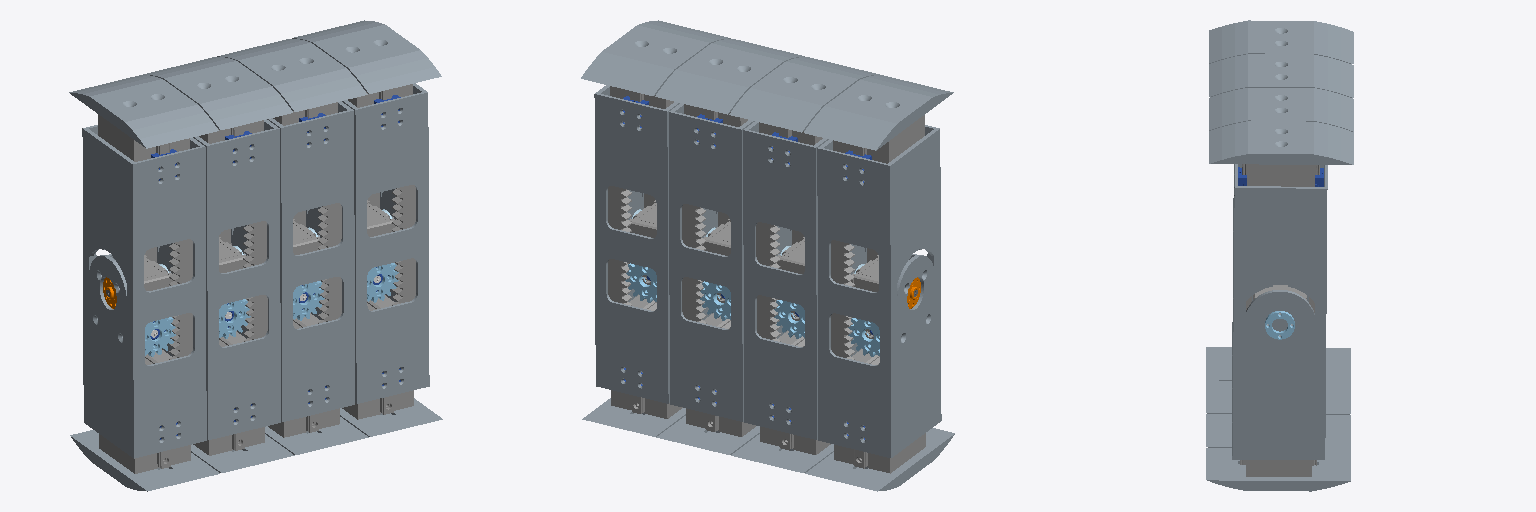
--- Render facts (derived) ---
The picture shows the robot from 3 angles, left to right: view 1: azimuth 30°, elevation 25°; view 2: azimuth 150°, elevation 25°; view 3: azimuth 270°, elevation 25°; orthographic projection.
Robot: TARS3D — 8 links, 7 joints (3 revolute, 4 prismatic); root link shell_motor; default pose: all joints at 0.
Links seen in each view (by area): view 1: shell_motor, shell_motor_2, shell_motor_4, shell_motor_3, slide_foot_4, slide_foot_2, slide_foot, slide_foot_3; view 2: shell_motor, shell_motor_2, shell_motor_4, shell_motor_3, slide_foot_4, slide_foot_2, slide_foot, slide_foot_3; view 3: shell_motor_4, slide_foot, slide_foot_3, slide_foot_2, slide_foot_4.
Link boxes in pixels (x1,y1,x2,y2): shell_motor: [82, 125, 206, 458]; shell_motor_2: [193, 119, 280, 439]; shell_motor_4: [342, 83, 429, 403]; shell_motor_3: [267, 101, 354, 421]; slide_foot_4: [69, 75, 219, 491]; slide_foot_2: [217, 39, 368, 454]; slide_foot: [292, 20, 442, 436]; slide_foot_3: [143, 57, 294, 472]; shell_motor: [817, 125, 941, 457]; shell_motor_2: [743, 121, 828, 439]; shell_motor_4: [594, 85, 679, 403]; shell_motor_3: [669, 103, 754, 421]; slide_foot_4: [804, 75, 954, 491]; slide_foot_2: [655, 39, 804, 454]; slide_foot: [581, 20, 730, 436]; slide_foot_3: [729, 57, 879, 472]; shell_motor_4: [1232, 164, 1327, 459]; slide_foot: [1206, 121, 1353, 491]; slide_foot_3: [1206, 54, 1353, 414]; slide_foot_2: [1206, 88, 1353, 447]; slide_foot_4: [1206, 20, 1353, 380].
Size in the robot's own frame: 0.214 by 0.0982 by 0.2486 metres.
176 mesh visuals loaded from 36 distinct referenced files (36 binary STL).

The robot description file, URDF, robot "TARS3D":
<?xml version="1.0" ?>
<!-- Generated using onshape-to-robot -->
<!-- Onshape https://cad.onshape.com/documents/a64fb0fa5d8889a75972d3a2/w/d78c72d4ae1e509038d50c03/e/e5909fb36b7c024fca2a2aa0 -->
<robot name="TARS3D">
  <!-- Link shell_motor -->
  <link name="shell_motor">
    <inertial>
      <origin xyz="-0.0825449 -0.0405795 -0.00572721" rpy="0 0 0"/>
      <mass value="0.14763"/>
      <inertia ixx="0.000576666" ixy="2.49762e-07" ixz="-2.65202e-06" iyy="0.000538294" iyz="-3.63115e-06" izz="7.26091e-05"/>
    </inertial>
    <!-- Part mgn7c_1_bearing -->
    <visual>
      <origin xyz="-0.0798992 -0.0606478 0.0889802" rpy="3.13427 -1.6994e-14 5.85358e-12"/>
      <geometry>
        <mesh filename="package://assets/mgn7c_1_bearing.stl"/>
      </geometry>
      <material name="mgn7c_1_bearing_material">
        <color rgba="0.231373 0.380392 0.705882 1.0"/>
      </material>
    </visual>
    <collision>
      <origin xyz="-0.0798992 -0.0606478 0.0889802" rpy="3.13427 -1.6994e-14 5.85358e-12"/>
      <geometry>
        <mesh filename="package://assets/mgn7c_1_bearing.stl"/>
      </geometry>
    </collision>
    <!-- Part mgn7c_1_bearing_2 -->
    <visual>
      <origin xyz="-0.0798992 -0.0186489 0.0886727" rpy="-0.00732023 -6.72012e-15 5.85328e-12"/>
      <geometry>
        <mesh filename="package://assets/mgn7c_1_bearing.stl"/>
      </geometry>
      <material name="mgn7c_1_bearing_2_material">
        <color rgba="0.231373 0.380392 0.705882 1.0"/>
      </material>
    </visual>
    <collision>
      <origin xyz="-0.0798992 -0.0186489 0.0886727" rpy="-0.00732023 -6.72012e-15 5.85328e-12"/>
      <geometry>
        <mesh filename="package://assets/mgn7c_1_bearing.stl"/>
      </geometry>
    </collision>
    <!-- Part mgn7c_1_bearing_3 -->
    <visual>
      <origin xyz="-0.0798992 -0.0199372 -0.0873226" rpy="-0.00732023 -1.11261e-14 5.85332e-12"/>
      <geometry>
        <mesh filename="package://assets/mgn7c_1_bearing.stl"/>
      </geometry>
      <material name="mgn7c_1_bearing_3_material">
        <color rgba="0.231373 0.380392 0.705882 1.0"/>
      </material>
    </visual>
    <collision>
      <origin xyz="-0.0798992 -0.0199372 -0.0873226" rpy="-0.00732023 -1.11261e-14 5.85332e-12"/>
      <geometry>
        <mesh filename="package://assets/mgn7c_1_bearing.stl"/>
      </geometry>
    </collision>
    <!-- Part mgn7c_1_bearing_4 -->
    <visual>
      <origin xyz="-0.0798992 -0.0619361 -0.0870151" rpy="3.13427 -1.25142e-14 5.85333e-12"/>
      <geometry>
        <mesh filename="package://assets/mgn7c_1_bearing.stl"/>
      </geometry>
      <material name="mgn7c_1_bearing_4_material">
        <color rgba="0.231373 0.380392 0.705882 1.0"/>
      </material>
    </visual>
    <collision>
      <origin xyz="-0.0798992 -0.0619361 -0.0870151" rpy="3.13427 -1.25142e-14 5.85333e-12"/>
      <geometry>
        <mesh filename="package://assets/mgn7c_1_bearing.stl"/>
      </geometry>
    </collision>
    <!-- Part spacer_ring -->
    <visual>
      <origin xyz="-0.0508992 -0.0402925 0.000828808" rpy="-1.5708 0.00732023 1.5708"/>
      <geometry>
        <mesh filename="package://assets/spacer_ring.stl"/>
      </geometry>
      <material name="spacer_ring_material">
        <color rgba="0.615686 0.811765 0.929412 1.0"/>
      </material>
    </visual>
    <collision>
      <origin xyz="-0.0508992 -0.0402925 0.000828808" rpy="-1.5708 0.00732023 1.5708"/>
      <geometry>
        <mesh filename="package://assets/spacer_ring.stl"/>
      </geometry>
    </collision>
    <!-- Part shell -->
    <visual>
      <origin xyz="-0.0798992 -0.0410245 -0.0991685" rpy="-0.00732023 -1.25686e-14 5.85381e-12"/>
      <geometry>
        <mesh filename="package://assets/shell.stl"/>
      </geometry>
      <material name="shell_material">
        <color rgba="0.623529 0.666667 0.701961 1.0"/>
      </material>
    </visual>
    <collision>
      <origin xyz="-0.0798992 -0.0410245 -0.0991685" rpy="-0.00732023 -1.25686e-14 5.85381e-12"/>
      <geometry>
        <mesh filename="package://assets/shell.stl"/>
      </geometry>
    </collision>
    <!-- Part dc11_a01_idler_ref -->
    <visual>
      <origin xyz="-0.0848992 -0.0403803 -0.0111709" rpy="1.5708 -0.00732023 -1.5708"/>
      <geometry>
        <mesh filename="package://assets/dc11_a01_idler_ref.stl"/>
      </geometry>
      <material name="dc11_a01_idler_ref_material">
        <color rgba="0.615686 0.811765 0.929412 1.0"/>
      </material>
    </visual>
    <collision>
      <origin xyz="-0.0848992 -0.0403803 -0.0111709" rpy="1.5708 -0.00732023 -1.5708"/>
      <geometry>
        <mesh filename="package://assets/dc11_a01_idler_ref.stl"/>
      </geometry>
    </collision>
    <!-- Part phs_m2x33_tap_k_3 -->
    <visual>
      <origin xyz="-0.0848992 -0.0403803 -0.0111709" rpy="1.5708 -0.00732023 -1.5708"/>
      <geometry>
        <mesh filename="package://assets/phs_m2x33_tap_k_3.stl"/>
      </geometry>
      <material name="phs_m2x33_tap_k_3_material">
        <color rgba="0.768627 0.886275 0.952941 1.0"/>
      </material>
    </visual>
    <collision>
      <origin xyz="-0.0848992 -0.0403803 -0.0111709" rpy="1.5708 -0.00732023 -1.5708"/>
      <geometry>
        <mesh filename="package://assets/phs_m2x33_tap_k_3.stl"/>
      </geometry>
    </collision>
    <!-- Part fhs_m2_5x06_nylok_1 -->
    <visual>
      <origin xyz="-0.0848992 -0.0403803 -0.0111709" rpy="1.5708 -0.00732023 -1.5708"/>
      <geometry>
        <mesh filename="package://assets/fhs_m2_5x06_nylok_1.stl"/>
      </geometry>
      <material name="fhs_m2_5x06_nylok_1_material">
        <color rgba="0.498039 0.498039 0.498039 1.0"/>
      </material>
    </visual>
    <collision>
      <origin xyz="-0.0848992 -0.0403803 -0.0111709" rpy="1.5708 -0.00732023 -1.5708"/>
      <geometry>
        <mesh filename="package://assets/fhs_m2_5x06_nylok_1.stl"/>
      </geometry>
    </collision>
    <!-- Part fhs_m2_5x06_nylok -->
    <visual>
      <origin xyz="-0.0848992 -0.0403803 -0.0111709" rpy="1.5708 -0.00732023 -1.5708"/>
      <geometry>
        <mesh filename="package://assets/fhs_m2_5x06_nylok.stl"/>
      </geometry>
      <material name="fhs_m2_5x06_nylok_material">
        <color rgba="0.917647 0.917647 0.917647 1.0"/>
      </material>
    </visual>
    <collision>
      <origin xyz="-0.0848992 -0.0403803 -0.0111709" rpy="1.5708 -0.00732023 -1.5708"/>
      <geometry>
        <mesh filename="package://assets/fhs_m2_5x06_nylok.stl"/>
      </geometry>
    </collision>
    <!-- Part ehr_3_1 -->
    <visual>
      <origin xyz="-0.0848992 -0.0403803 -0.0111709" rpy="1.5708 -0.00732023 -1.5708"/>
      <geometry>
        <mesh filename="package://assets/ehr_3_1.stl"/>
      </geometry>
      <material name="ehr_3_1_material">
        <color rgba="0.972549 0.529412 0.00392157 1.0"/>
      </material>
    </visual>
    <collision>
      <origin xyz="-0.0848992 -0.0403803 -0.0111709" rpy="1.5708 -0.00732023 -1.5708"/>
      <geometry>
        <mesh filename="package://assets/ehr_3_1.stl"/>
      </geometry>
    </collision>
    <!-- Part gear -->
    <visual>
      <origin xyz="-0.0848992 -0.0635676 -0.0230015" rpy="0.00732023 -3.05057e-13 -3.14159"/>
      <geometry>
        <mesh filename="package://assets/gear.stl"/>
      </geometry>
      <material name="gear_material">
        <color rgba="0.615686 0.811765 0.929412 1.0"/>
      </material>
    </visual>
    <collision>
      <origin xyz="-0.0848992 -0.0635676 -0.0230015" rpy="0.00732023 -3.05057e-13 -3.14159"/>
      <geometry>
        <mesh filename="package://assets/gear.stl"/>
      </geometry>
    </collision>
    <!-- Part s3b_eh_1 -->
    <visual>
      <origin xyz="-0.0848992 -0.0403803 -0.0111709" rpy="1.5708 -0.00732023 -1.5708"/>
      <geometry>
        <mesh filename="package://assets/s3b_eh_1.stl"/>
      </geometry>
      <material name="s3b_eh_1_material">
        <color rgba="0.917647 0.917647 0.917647 1.0"/>
      </material>
    </visual>
    <collision>
      <origin xyz="-0.0848992 -0.0403803 -0.0111709" rpy="1.5708 -0.00732023 -1.5708"/>
      <geometry>
        <mesh filename="package://assets/s3b_eh_1.stl"/>
      </geometry>
    </collision>
    <!-- Part phs_m2x33_tap_k_2 -->
    <visual>
      <origin xyz="-0.0848992 -0.0403803 -0.0111709" rpy="1.5708 -0.00732023 -1.5708"/>
      <geometry>
        <mesh filename="package://assets/phs_m2x33_tap_k_2.stl"/>
      </geometry>
      <material name="phs_m2x33_tap_k_2_material">
        <color rgba="0.231373 0.380392 0.705882 1.0"/>
      </material>
    </visual>
    <collision>
      <origin xyz="-0.0848992 -0.0403803 -0.0111709" rpy="1.5708 -0.00732023 -1.5708"/>
      <geometry>
        <mesh filename="package://assets/phs_m2x33_tap_k_2.stl"/>
      </geometry>
    </collision>
    <!-- Part s3b_eh -->
    <visual>
      <origin xyz="-0.0848992 -0.0403803 -0.0111709" rpy="1.5708 -0.00732023 -1.5708"/>
      <geometry>
        <mesh filename="package://assets/s3b_eh.stl"/>
      </geometry>
      <material name="s3b_eh_material">
        <color rgba="0.231373 0.380392 0.705882 1.0"/>
      </material>
    </visual>
    <collision>
      <origin xyz="-0.0848992 -0.0403803 -0.0111709" rpy="1.5708 -0.00732023 -1.5708"/>
      <geometry>
        <mesh filename="package://assets/s3b_eh.stl"/>
      </geometry>
    </collision>
    <!-- Part phs_m2x33_tap_k -->
    <visual>
      <origin xyz="-0.0848992 -0.0403803 -0.0111709" rpy="1.5708 -0.00732023 -1.5708"/>
      <geometry>
        <mesh filename="package://assets/phs_m2x33_tap_k.stl"/>
      </geometry>
      <material name="phs_m2x33_tap_k_material">
        <color rgba="0.498039 0.498039 0.498039 1.0"/>
      </material>
    </visual>
    <collision>
      <origin xyz="-0.0848992 -0.0403803 -0.0111709" rpy="1.5708 -0.00732023 -1.5708"/>
      <geometry>
        <mesh filename="package://assets/phs_m2x33_tap_k.stl"/>
      </geometry>
    </collision>
    <!-- Part gear_2 -->
    <visual>
      <origin xyz="-0.0848992 -0.0173688 -0.0233396" rpy="-0.00732023 3.30702e-13 5.85069e-12"/>
      <geometry>
        <mesh filename="package://assets/gear.stl"/>
      </geometry>
      <material name="gear_2_material">
        <color rgba="0.615686 0.811765 0.929412 1.0"/>
      </material>
    </visual>
    <collision>
      <origin xyz="-0.0848992 -0.0173688 -0.0233396" rpy="-0.00732023 3.30702e-13 5.85069e-12"/>
      <geometry>
        <mesh filename="package://assets/gear.stl"/>
      </geometry>
    </collision>
    <!-- Part dc14_a01_insert_2 -->
    <visual>
      <origin xyz="-0.0848992 -0.0403803 -0.0111709" rpy="1.5708 -0.00732023 -1.5708"/>
      <geometry>
        <mesh filename="package://assets/dc14_a01_insert_2.stl"/>
      </geometry>
      <material name="dc14_a01_insert_2_material">
        <color rgba="0.498039 0.498039 0.498039 1.0"/>
      </material>
    </visual>
    <collision>
      <origin xyz="-0.0848992 -0.0403803 -0.0111709" rpy="1.5708 -0.00732023 -1.5708"/>
      <geometry>
        <mesh filename="package://assets/dc14_a01_insert_2.stl"/>
      </geometry>
    </collision>
    <!-- Part dc14_a01_insert_2_5 -->
    <visual>
      <origin xyz="-0.0848992 -0.0403803 -0.0111709" rpy="1.5708 -0.00732023 -1.5708"/>
      <geometry>
        <mesh filename="package://assets/dc14_a01_insert_2_5.stl"/>
      </geometry>
      <material name="dc14_a01_insert_2_5_material">
        <color rgba="0.615686 0.811765 0.929412 1.0"/>
      </material>
    </visual>
    <collision>
      <origin xyz="-0.0848992 -0.0403803 -0.0111709" rpy="1.5708 -0.00732023 -1.5708"/>
      <geometry>
        <mesh filename="package://assets/dc14_a01_insert_2_5.stl"/>
      </geometry>
    </collision>
    <!-- Part dc14_a01_insert_2_2 -->
    <visual>
      <origin xyz="-0.0848992 -0.0403803 -0.0111709" rpy="1.5708 -0.00732023 -1.5708"/>
      <geometry>
        <mesh filename="package://assets/dc14_a01_insert_2_2.stl"/>
      </geometry>
      <material name="dc14_a01_insert_2_2_material">
        <color rgba="0.231373 0.380392 0.705882 1.0"/>
      </material>
    </visual>
    <collision>
      <origin xyz="-0.0848992 -0.0403803 -0.0111709" rpy="1.5708 -0.00732023 -1.5708"/>
      <geometry>
        <mesh filename="package://assets/dc14_a01_insert_2_2.stl"/>
      </geometry>
    </collision>
    <!-- Part dc11_a01_idler_cap_ref_1 -->
    <visual>
      <origin xyz="-0.0848992 -0.0403803 -0.0111709" rpy="1.5708 -0.00732023 -1.5708"/>
      <geometry>
        <mesh filename="package://assets/dc11_a01_idler_cap_ref_1.stl"/>
      </geometry>
      <material name="dc11_a01_idler_cap_ref_1_material">
        <color rgba="0.972549 0.529412 0.00392157 1.0"/>
      </material>
    </visual>
    <collision>
      <origin xyz="-0.0848992 -0.0403803 -0.0111709" rpy="1.5708 -0.00732023 -1.5708"/>
      <geometry>
        <mesh filename="package://assets/dc11_a01_idler_cap_ref_1.stl"/>
      </geometry>
    </collision>
    <!-- Part dc11_a01_idler_ref_1 -->
    <visual>
      <origin xyz="-0.0848992 -0.0403803 -0.0111709" rpy="1.5708 -0.00732023 -1.5708"/>
      <geometry>
        <mesh filename="package://assets/dc11_a01_idler_ref_1.stl"/>
      </geometry>
      <material name="dc11_a01_idler_ref_1_material">
        <color rgba="0.768627 0.886275 0.952941 1.0"/>
      </material>
    </visual>
    <collision>
      <origin xyz="-0.0848992 -0.0403803 -0.0111709" rpy="1.5708 -0.00732023 -1.5708"/>
      <geometry>
        <mesh filename="package://assets/dc11_a01_idler_ref_1.stl"/>
      </geometry>
    </collision>
    <!-- Part dc11_a01_idler_screw_1 -->
    <visual>
      <origin xyz="-0.0848992 -0.0403803 -0.0111709" rpy="1.5708 -0.00732023 -1.5708"/>
      <geometry>
        <mesh filename="package://assets/dc11_a01_idler_screw_1.stl"/>
      </geometry>
      <material name="dc11_a01_idler_screw_1_material">
        <color rgba="0.498039 0.498039 0.498039 1.0"/>
      </material>
    </visual>
    <collision>
      <origin xyz="-0.0848992 -0.0403803 -0.0111709" rpy="1.5708 -0.00732023 -1.5708"/>
      <geometry>
        <mesh filename="package://assets/dc11_a01_idler_screw_1.stl"/>
      </geometry>
    </collision>
    <!-- Part dc14_a01_insert_2_1 -->
    <visual>
      <origin xyz="-0.0848992 -0.0403803 -0.0111709" rpy="1.5708 -0.00732023 -1.5708"/>
      <geometry>
        <mesh filename="package://assets/dc14_a01_insert_2_1.stl"/>
      </geometry>
      <material name="dc14_a01_insert_2_1_material">
        <color rgba="0.615686 0.811765 0.929412 1.0"/>
      </material>
    </visual>
    <collision>
      <origin xyz="-0.0848992 -0.0403803 -0.0111709" rpy="1.5708 -0.00732023 -1.5708"/>
      <geometry>
        <mesh filename="package://assets/dc14_a01_insert_2_1.stl"/>
      </geometry>
    </collision>
    <!-- Part dc14_a01_insert_2_4 -->
    <visual>
      <origin xyz="-0.0848992 -0.0403803 -0.0111709" rpy="1.5708 -0.00732023 -1.5708"/>
      <geometry>
        <mesh filename="package://assets/dc14_a01_insert_2_4.stl"/>
      </geometry>
      <material name="dc14_a01_insert_2_4_material">
        <color rgba="0.498039 0.498039 0.498039 1.0"/>
      </material>
    </visual>
    <collision>
      <origin xyz="-0.0848992 -0.0403803 -0.0111709" rpy="1.5708 -0.00732023 -1.5708"/>
      <geometry>
        <mesh filename="package://assets/dc14_a01_insert_2_4.stl"/>
      </geometry>
    </collision>
    <!-- Part phs_m2x33_tap_k_1 -->
    <visual>
      <origin xyz="-0.0848992 -0.0403803 -0.0111709" rpy="1.5708 -0.00732023 -1.5708"/>
      <geometry>
        <mesh filename="package://assets/phs_m2x33_tap_k_1.stl"/>
      </geometry>
      <material name="phs_m2x33_tap_k_1_material">
        <color rgba="0.615686 0.811765 0.929412 1.0"/>
      </material>
    </visual>
    <collision>
      <origin xyz="-0.0848992 -0.0403803 -0.0111709" rpy="1.5708 -0.00732023 -1.5708"/>
      <geometry>
        <mesh filename="package://assets/phs_m2x33_tap_k_1.stl"/>
      </geometry>
    </collision>
    <!-- Part dc11_a01_idler_cap_ref -->
    <visual>
      <origin xyz="-0.0848992 -0.0403803 -0.0111709" rpy="1.5708 -0.00732023 -1.5708"/>
      <geometry>
        <mesh filename="package://assets/dc11_a01_idler_cap_ref.stl"/>
      </geometry>
      <material name="dc11_a01_idler_cap_ref_material">
        <color rgba="0.647059 0.647059 0.647059 1.0"/>
      </material>
    </visual>
    <collision>
      <origin xyz="-0.0848992 -0.0403803 -0.0111709" rpy="1.5708 -0.00732023 -1.5708"/>
      <geometry>
        <mesh filename="package://assets/dc11_a01_idler_cap_ref.stl"/>
      </geometry>
    </collision>
    <!-- Part dc14_a01_ref -->
    <visual>
      <origin xyz="-0.0848992 -0.0403803 -0.0111709" rpy="1.5708 -0.00732023 -1.5708"/>
      <geometry>
        <mesh filename="package://assets/dc14_a01_ref.stl"/>
      </geometry>
      <material name="dc14_a01_ref_material">
        <color rgba="0.647059 0.647059 0.647059 1.0"/>
      </material>
    </visual>
    <collision>
      <origin xyz="-0.0848992 -0.0403803 -0.0111709" rpy="1.5708 -0.00732023 -1.5708"/>
      <geometry>
        <mesh filename="package://assets/dc14_a01_ref.stl"/>
      </geometry>
    </collision>
    <!-- Part dc11_a01_horn_ref_1 -->
    <visual>
      <origin xyz="-0.0848992 -0.0403803 -0.0111709" rpy="1.5708 -0.00732023 -1.5708"/>
      <geometry>
        <mesh filename="package://assets/dc11_a01_horn_ref_1.stl"/>
      </geometry>
      <material name="dc11_a01_horn_ref_1_material">
        <color rgba="0.972549 0.529412 0.00392157 1.0"/>
      </material>
    </visual>
    <collision>
      <origin xyz="-0.0848992 -0.0403803 -0.0111709" rpy="1.5708 -0.00732023 -1.5708"/>
      <geometry>
        <mesh filename="package://assets/dc11_a01_horn_ref_1.stl"/>
      </geometry>
    </collision>
    <!-- Part dc14_a01_insert_1 -->
    <visual>
      <origin xyz="-0.0848992 -0.0403803 -0.0111709" rpy="1.5708 -0.00732023 -1.5708"/>
      <geometry>
        <mesh filename="package://assets/dc14_a01_insert_1.stl"/>
      </geometry>
      <material name="dc14_a01_insert_1_material">
        <color rgba="0.498039 0.498039 0.498039 1.0"/>
      </material>
    </visual>
    <collision>
      <origin xyz="-0.0848992 -0.0403803 -0.0111709" rpy="1.5708 -0.00732023 -1.5708"/>
      <geometry>
        <mesh filename="package://assets/dc14_a01_insert_1.stl"/>
      </geometry>
    </collision>
    <!-- Part dc14_a01_insert_2_3 -->
    <visual>
      <origin xyz="-0.0848992 -0.0403803 -0.0111709" rpy="1.5708 -0.00732023 -1.5708"/>
      <geometry>
        <mesh filename="package://assets/dc14_a01_insert_2_3.stl"/>
      </geometry>
      <material name="dc14_a01_insert_2_3_material">
        <color rgba="0.768627 0.886275 0.952941 1.0"/>
      </material>
    </visual>
    <collision>
      <origin xyz="-0.0848992 -0.0403803 -0.0111709" rpy="1.5708 -0.00732023 -1.5708"/>
      <geometry>
        <mesh filename="package://assets/dc14_a01_insert_2_3.stl"/>
      </geometry>
    </collision>
    <!-- Part dc11_a01_idler_screw -->
    <visual>
      <origin xyz="-0.0848992 -0.0403803 -0.0111709" rpy="1.5708 -0.00732023 -1.5708"/>
      <geometry>
        <mesh filename="package://assets/dc11_a01_idler_screw.stl"/>
      </geometry>
      <material name="dc11_a01_idler_screw_material">
        <color rgba="0.231373 0.380392 0.705882 1.0"/>
      </material>
    </visual>
    <collision>
      <origin xyz="-0.0848992 -0.0403803 -0.0111709" rpy="1.5708 -0.00732023 -1.5708"/>
      <geometry>
        <mesh filename="package://assets/dc11_a01_idler_screw.stl"/>
      </geometry>
    </collision>
    <!-- Part dc14_a01_insert_2_7 -->
    <visual>
      <origin xyz="-0.0848992 -0.0403803 -0.0111709" rpy="1.5708 -0.00732023 -1.5708"/>
      <geometry>
        <mesh filename="package://assets/dc14_a01_insert_2_7.stl"/>
      </geometry>
      <material name="dc14_a01_insert_2_7_material">
        <color rgba="0.768627 0.886275 0.952941 1.0"/>
      </material>
    </visual>
    <collision>
      <origin xyz="-0.0848992 -0.0403803 -0.0111709" rpy="1.5708 -0.00732023 -1.5708"/>
      <geometry>
        <mesh filename="package://assets/dc14_a01_insert_2_7.stl"/>
      </geometry>
    </collision>
    <!-- Part dc14_a01_insert_2_6 -->
    <visual>
      <origin xyz="-0.0848992 -0.0403803 -0.0111709" rpy="1.5708 -0.00732023 -1.5708"/>
      <geometry>
        <mesh filename="package://assets/dc14_a01_insert_2_6.stl"/>
      </geometry>
      <material name="dc14_a01_insert_2_6_material">
        <color rgba="0.231373 0.380392 0.705882 1.0"/>
      </material>
    </visual>
    <collision>
      <origin xyz="-0.0848992 -0.0403803 -0.0111709" rpy="1.5708 -0.00732023 -1.5708"/>
      <geometry>
        <mesh filename="package://assets/dc14_a01_insert_2_6.stl"/>
      </geometry>
    </collision>
    <!-- Part dc11_a01_horn_ref -->
    <visual>
      <origin xyz="-0.0848992 -0.0403803 -0.0111709" rpy="1.5708 -0.00732023 -1.5708"/>
      <geometry>
        <mesh filename="package://assets/dc11_a01_horn_ref.stl"/>
      </geometry>
      <material name="dc11_a01_horn_ref_material">
        <color rgba="0.231373 0.380392 0.705882 1.0"/>
      </material>
    </visual>
    <collision>
      <origin xyz="-0.0848992 -0.0403803 -0.0111709" rpy="1.5708 -0.00732023 -1.5708"/>
      <geometry>
        <mesh filename="package://assets/dc11_a01_horn_ref.stl"/>
      </geometry>
    </collision>
    <!-- Part ehr_3 -->
    <visual>
      <origin xyz="-0.0848992 -0.0403803 -0.0111709" rpy="1.5708 -0.00732023 -1.5708"/>
      <geometry>
        <mesh filename="package://assets/ehr_3.stl"/>
      </geometry>
      <material name="ehr_3_material">
        <color rgba="0.768627 0.886275 0.952941 1.0"/>
      </material>
    </visual>
    <collision>
      <origin xyz="-0.0848992 -0.0403803 -0.0111709" rpy="1.5708 -0.00732023 -1.5708"/>
      <geometry>
        <mesh filename="package://assets/ehr_3.stl"/>
      </geometry>
    </collision>
    <!-- Part dc14_a01_insert_1_1 -->
    <visual>
      <origin xyz="-0.0848992 -0.0403803 -0.0111709" rpy="1.5708 -0.00732023 -1.5708"/>
      <geometry>
        <mesh filename="package://assets/dc14_a01_insert_1_1.stl"/>
      </geometry>
      <material name="dc14_a01_insert_1_1_material">
        <color rgba="0.615686 0.811765 0.929412 1.0"/>
      </material>
    </visual>
    <collision>
      <origin xyz="-0.0848992 -0.0403803 -0.0111709" rpy="1.5708 -0.00732023 -1.5708"/>
      <geometry>
        <mesh filename="package://assets/dc14_a01_insert_1_1.stl"/>
      </geometry>
    </collision>
  </link>
  <!-- Link shell_motor_2 -->
  <link name="shell_motor_2">
    <inertial>
      <origin xyz="-0.000239027 0.00655795 -0.0228542" rpy="0 0 0"/>
      <mass value="0.14763"/>
      <inertia ixx="0.000538322" ixy="2.21958e-07" ixz="-2.69169e-07" iyy="7.25809e-05" iyz="-2.65012e-06" izz="0.000576666"/>
    </inertial>
    <!-- Part mgn7c_1_bearing_5 -->
    <visual>
      <origin xyz="-0.021 -0.088 -0.0255" rpy="-1.5708 1.5708 0"/>
      <geometry>
        <mesh filename="package://assets/mgn7c_1_bearing.stl"/>
      </geometry>
      <material name="mgn7c_1_bearing_5_material">
        <color rgba="0.231373 0.380392 0.705882 1.0"/>
      </material>
    </visual>
    <collision>
      <origin xyz="-0.021 -0.088 -0.0255" rpy="-1.5708 1.5708 0"/>
      <geometry>
        <mesh filename="package://assets/mgn7c_1_bearing.stl"/>
      </geometry>
    </collision>
    <!-- Part mgn7c_1_bearing_6 -->
    <visual>
      <origin xyz="0.021 -0.088 -0.0255" rpy="1.5708 1.5708 0"/>
      <geometry>
        <mesh filename="package://assets/mgn7c_1_bearing.stl"/>
      </geometry>
      <material name="mgn7c_1_bearing_6_material">
        <color rgba="0.231373 0.380392 0.705882 1.0"/>
      </material>
    </visual>
    <collision>
      <origin xyz="0.021 -0.088 -0.0255" rpy="1.5708 1.5708 0"/>
      <geometry>
        <mesh filename="package://assets/mgn7c_1_bearing.stl"/>
      </geometry>
    </collision>
    <!-- Part mgn7c_1_bearing_7 -->
    <visual>
      <origin xyz="0.021 0.088 -0.0255" rpy="1.5708 1.5708 0"/>
      <geometry>
        <mesh filename="package://assets/mgn7c_1_bearing.stl"/>
      </geometry>
      <material name="mgn7c_1_bearing_7_material">
        <color rgba="0.231373 0.380392 0.705882 1.0"/>
      </material>
    </visual>
    <collision>
      <origin xyz="0.021 0.088 -0.0255" rpy="1.5708 1.5708 0"/>
      <geometry>
        <mesh filename="package://assets/mgn7c_1_bearing.stl"/>
      </geometry>
    </collision>
    <!-- Part mgn7c_1_bearing_8 -->
    <visual>
      <origin xyz="-0.021 0.088 -0.0255" rpy="-1.5708 1.5708 0"/>
      <geometry>
        <mesh filename="package://assets/mgn7c_1_bearing.stl"/>
      </geometry>
      <material name="mgn7c_1_bearing_8_material">
        <color rgba="0.231373 0.380392 0.705882 1.0"/>
      </material>
    </visual>
    <collision>
      <origin xyz="-0.021 0.088 -0.0255" rpy="-1.5708 1.5708 0"/>
      <geometry>
        <mesh filename="package://assets/mgn7c_1_bearing.stl"/>
      </geometry>
    </collision>
    <!-- Part spacer_ring_2 -->
    <visual>
      <origin xyz="7.63278e-17 -2.52511e-16 -0.0545" rpy="-4.64622e-15 -1.31312e-15 1.41882e-18"/>
      <geometry>
        <mesh filename="package://assets/spacer_ring.stl"/>
      </geometry>
      <material name="spacer_ring_2_material">
        <color rgba="0.615686 0.811765 0.929412 1.0"/>
      </material>
    </visual>
    <collision>
      <origin xyz="7.63278e-17 -2.52511e-16 -0.0545" rpy="-4.64622e-15 -1.31312e-15 1.41882e-18"/>
      <geometry>
        <mesh filename="package://assets/spacer_ring.stl"/>
      </geometry>
    </collision>
    <!-- Part shell_2 -->
    <visual>
      <origin xyz="-1.38778e-17 0.1 -0.0255" rpy="1.5708 1.5708 0"/>
      <geometry>
        <mesh filename="package://assets/shell.stl"/>
      </geometry>
      <material name="shell_2_material">
        <color rgba="0.623529 0.666667 0.701961 1.0"/>
      </material>
    </visual>
    <collision>
      <origin xyz="-1.38778e-17 0.1 -0.0255" rpy="1.5708 1.5708 0"/>
      <geometry>
        <mesh filename="package://assets/shell.stl"/>
      </geometry>
    </collision>
    <!-- Part dc11_a01_idler_ref_2 -->
    <visual>
      <origin xyz="-4.85723e-17 0.012 -0.0205" rpy="4.64622e-15 1.36908e-15 -3.14159"/>
      <geometry>
        <mesh filename="package://assets/dc11_a01_idler_ref.stl"/>
      </geometry>
      <material name="dc11_a01_idler_ref_2_material">
        <color rgba="0.615686 0.811765 0.929412 1.0"/>
      </material>
    </visual>
    <collision>
      <origin xyz="-4.85723e-17 0.012 -0.0205" rpy="4.64622e-15 1.36908e-15 -3.14159"/>
      <geometry>
        <mesh filename="package://assets/dc11_a01_idler_ref.stl"/>
      </geometry>
    </collision>
    <!-- Part phs_m2x33_tap_k_3_2 -->
    <visual>
      <origin xyz="-4.85723e-17 0.012 -0.0205" rpy="4.64622e-15 1.36908e-15 -3.14159"/>
      <geometry>
        <mesh filename="package://assets/phs_m2x33_tap_k_3.stl"/>
      </geometry>
      <material name="phs_m2x33_tap_k_3_2_material">
        <color rgba="0.768627 0.886275 0.952941 1.0"/>
      </material>
    </visual>
    <collision>
      <origin xyz="-4.85723e-17 0.012 -0.0205" rpy="4.64622e-15 1.36908e-15 -3.14159"/>
      <geometry>
        <mesh filename="package://assets/phs_m2x33_tap_k_3.stl"/>
      </geometry>
    </collision>
    <!-- Part fhs_m2_5x06_nylok_1_2 -->
    <visual>
      <origin xyz="-4.85723e-17 0.012 -0.0205" rpy="4.64622e-15 1.36908e-15 -3.14159"/>
      <geometry>
        <mesh filename="package://assets/fhs_m2_5x06_nylok_1.stl"/>
      </geometry>
      <material name="fhs_m2_5x06_nylok_1_2_material">
        <color rgba="0.498039 0.498039 0.498039 1.0"/>
      </material>
    </visual>
    <collision>
      <origin xyz="-4.85723e-17 0.012 -0.0205" rpy="4.64622e-15 1.36908e-15 -3.14159"/>
      <geometry>
        <mesh filename="package://assets/fhs_m2_5x06_nylok_1.stl"/>
      </geometry>
    </collision>
    <!-- Part fhs_m2_5x06_nylok_2 -->
    <visual>
      <origin xyz="-4.85723e-17 0.012 -0.0205" rpy="4.64622e-15 1.36908e-15 -3.14159"/>
      <geometry>
        <mesh filename="package://assets/fhs_m2_5x06_nylok.stl"/>
      </geometry>
      <material name="fhs_m2_5x06_nylok_2_material">
        <color rgba="0.917647 0.917647 0.917647 1.0"/>
      </material>
    </visual>
    <collision>
      <origin xyz="-4.85723e-17 0.012 -0.0205" rpy="4.64622e-15 1.36908e-15 -3.14159"/>
      <geometry>
        <mesh filename="package://assets/fhs_m2_5x06_nylok.stl"/>
      </geometry>
    </collision>
    <!-- Part ehr_3_1_2 -->
    <visual>
      <origin xyz="-4.85723e-17 0.012 -0.0205" rpy="4.64622e-15 1.36908e-15 -3.14159"/>
      <geometry>
        <mesh filename="package://assets/ehr_3_1.stl"/>
      </geometry>
      <material name="ehr_3_1_2_material">
        <color rgba="0.972549 0.529412 0.00392157 1.0"/>
      </material>
    </visual>
    <collision>
      <origin xyz="-4.85723e-17 0.012 -0.0205" rpy="4.64622e-15 1.36908e-15 -3.14159"/>
      <geometry>
        <mesh filename="package://assets/ehr_3_1.stl"/>
      </geometry>
    </collision>
    <!-- Part gear_3 -->
    <visual>
      <origin xyz="-0.0231 0.024 -0.0205" rpy="1.5708 -1.5708 0"/>
      <geometry>
        <mesh filename="package://assets/gear.stl"/>
      </geometry>
      <material name="gear_3_material">
        <color rgba="0.615686 0.811765 0.929412 1.0"/>
      </material>
    </visual>
    <collision>
      <origin xyz="-0.0231 0.024 -0.0205" rpy="1.5708 -1.5708 0"/>
      <geometry>
        <mesh filename="package://assets/gear.stl"/>
      </geometry>
    </collision>
    <!-- Part s3b_eh_1_2 -->
    <visual>
      <origin xyz="-4.85723e-17 0.012 -0.0205" rpy="4.64622e-15 1.36908e-15 -3.14159"/>
      <geometry>
        <mesh filename="package://assets/s3b_eh_1.stl"/>
      </geometry>
      <material name="s3b_eh_1_2_material">
        <color rgba="0.917647 0.917647 0.917647 1.0"/>
      </material>
    </visual>
    <collision>
      <origin xyz="-4.85723e-17 0.012 -0.0205" rpy="4.64622e-15 1.36908e-15 -3.14159"/>
      <geometry>
        <mesh filename="package://assets/s3b_eh_1.stl"/>
      </geometry>
    </collision>
    <!-- Part phs_m2x33_tap_k_2_2 -->
    <visual>
      <origin xyz="-4.85723e-17 0.012 -0.0205" rpy="4.64622e-15 1.36908e-15 -3.14159"/>
      <geometry>
        <mesh filename="package://assets/phs_m2x33_tap_k_2.stl"/>
      </geometry>
      <material name="phs_m2x33_tap_k_2_2_material">
        <color rgba="0.231373 0.380392 0.705882 1.0"/>
      </material>
    </visual>
    <collision>
      <origin xyz="-4.85723e-17 0.012 -0.0205" rpy="4.64622e-15 1.36908e-15 -3.14159"/>
      <geometry>
        <mesh filename="package://assets/phs_m2x33_tap_k_2.stl"/>
      </geometry>
    </collision>
    <!-- Part s3b_eh_2 -->
    <visual>
      <origin xyz="-4.85723e-17 0.012 -0.0205" rpy="4.64622e-15 1.36908e-15 -3.14159"/>
      <geometry>
        <mesh filename="package://assets/s3b_eh.stl"/>
      </geometry>
      <material name="s3b_eh_2_material">
        <color rgba="0.231373 0.380392 0.705882 1.0"/>
      </material>
    </visual>
    <collision>
      <origin xyz="-4.85723e-17 0.012 -0.0205" rpy="4.64622e-15 1.36908e-15 -3.14159"/>
      <geometry>
        <mesh filename="package://assets/s3b_eh.stl"/>
      </geometry>
    </collision>
    <!-- Part phs_m2x33_tap_k_2 -->
    <visual>
      <origin xyz="-4.85723e-17 0.012 -0.0205" rpy="4.64622e-15 1.36908e-15 -3.14159"/>
      <geometry>
        <mesh filename="package://assets/phs_m2x33_tap_k.stl"/>
      </geometry>
      <material name="phs_m2x33_tap_k_2_material">
        <color rgba="0.498039 0.498039 0.498039 1.0"/>
      </material>
    </visual>
    <collision>
      <origin xyz="-4.85723e-17 0.012 -0.0205" rpy="4.64622e-15 1.36908e-15 -3.14159"/>
      <geometry>
        <mesh filename="package://assets/phs_m2x33_tap_k.stl"/>
      </geometry>
    </collision>
    <!-- Part gear_4 -->
    <visual>
      <origin xyz="0.0231 0.024 -0.0205" rpy="1.5708 1.5708 0"/>
      <geometry>
        <mesh filename="package://assets/gear.stl"/>
      </geometry>
      <material name="gear_4_material">
        <color rgba="0.615686 0.811765 0.929412 1.0"/>
      </material>
    </visual>
    <collision>
      <origin xyz="0.0231 0.024 -0.0205" rpy="1.5708 1.5708 0"/>
      <geometry>
        <mesh filename="package://assets/gear.stl"/>
      </geometry>
    </collision>
    <!-- Part dc14_a01_insert_2_2 -->
    <visual>
      <origin xyz="-4.85723e-17 0.012 -0.0205" rpy="4.64622e-15 1.36908e-15 -3.14159"/>
      <geometry>
        <mesh filename="package://assets/dc14_a01_insert_2.stl"/>
      </geometry>
      <material name="dc14_a01_insert_2_2_material">
        <color rgba="0.498039 0.498039 0.498039 1.0"/>
      </material>
    </visual>
    <collision>
      <origin xyz="-4.85723e-17 0.012 -0.0205" rpy="4.64622e-15 1.36908e-15 -3.14159"/>
      <geometry>
        <mesh filename="package://assets/dc14_a01_insert_2.stl"/>
      </geometry>
    </collision>
    <!-- Part dc14_a01_insert_2_5_2 -->
    <visual>
      <origin xyz="-4.85723e-17 0.012 -0.0205" rpy="4.64622e-15 1.36908e-15 -3.14159"/>
      <geometry>
        <mesh filename="package://assets/dc14_a01_insert_2_5.stl"/>
      </geometry>
      <material name="dc14_a01_insert_2_5_2_material">
        <color rgba="0.615686 0.811765 0.929412 1.0"/>
      </material>
    </visual>
    <collision>
      <origin xyz="-4.85723e-17 0.012 -0.0205" rpy="4.64622e-15 1.36908e-15 -3.14159"/>
      <geometry>
        <mesh filename="package://assets/dc14_a01_insert_2_5.stl"/>
      </geometry>
    </collision>
    <!-- Part dc14_a01_insert_2_2_2 -->
    <visual>
      <origin xyz="-4.85723e-17 0.012 -0.0205" rpy="4.64622e-15 1.36908e-15 -3.14159"/>
      <geometry>
        <mesh filename="package://assets/dc14_a01_insert_2_2.stl"/>
      </geometry>
      <material name="dc14_a01_insert_2_2_2_material">
        <color rgba="0.231373 0.380392 0.705882 1.0"/>
      </material>
    </visual>
    <collision>
      <origin xyz="-4.85723e-17 0.012 -0.0205" rpy="4.64622e-15 1.36908e-15 -3.14159"/>
      <geometry>
        <mesh filename="package://assets/dc14_a01_insert_2_2.stl"/>
      </geometry>
    </collision>
    <!-- Part dc11_a01_idler_cap_ref_1_2 -->
    <visual>
      <origin xyz="-4.85723e-17 0.012 -0.0205" rpy="4.64622e-15 1.36908e-15 -3.14159"/>
      <geometry>
        <mesh filename="package://assets/dc11_a01_idler_cap_ref_1.stl"/>
      </geometry>
      <material name="dc11_a01_idler_cap_ref_1_2_material">
        <color rgba="0.972549 0.529412 0.00392157 1.0"/>
      </material>
    </visual>
    <collision>
      <origin xyz="-4.85723e-17 0.012 -0.0205" rpy="4.64622e-15 1.36908e-15 -3.14159"/>
      <geometry>
        <mesh filename="package://assets/dc11_a01_idler_cap_ref_1.stl"/>
      </geometry>
    </collision>
    <!-- Part dc11_a01_idler_ref_1_2 -->
    <visual>
      <origin xyz="-4.85723e-17 0.012 -0.0205" rpy="4.64622e-15 1.36908e-15 -3.14159"/>
      <geometry>
        <mesh filename="package://assets/dc11_a01_idler_ref_1.stl"/>
      </geometry>
      <material name="dc11_a01_idler_ref_1_2_material">
        <color rgba="0.768627 0.886275 0.952941 1.0"/>
      </material>
    </visual>
    <collision>
      <origin xyz="-4.85723e-17 0.012 -0.0205" rpy="4.64622e-15 1.36908e-15 -3.14159"/>
      <geometry>
        <mesh filename="package://assets/dc11_a01_idler_ref_1.stl"/>
      </geometry>
    </collision>
    <!-- Part dc11_a01_idler_screw_1_2 -->
    <visual>
      <origin xyz="-4.85723e-17 0.012 -0.0205" rpy="4.64622e-15 1.36908e-15 -3.14159"/>
      <geometry>
        <mesh filename="package://assets/dc11_a01_idler_screw_1.stl"/>
      </geometry>
      <material name="dc11_a01_idler_screw_1_2_material">
        <color rgba="0.498039 0.498039 0.498039 1.0"/>
      </material>
    </visual>
    <collision>
      <origin xyz="-4.85723e-17 0.012 -0.0205" rpy="4.64622e-15 1.36908e-15 -3.14159"/>
      <geometry>
        <mesh filename="package://assets/dc11_a01_idler_screw_1.stl"/>
      </geometry>
    </collision>
    <!-- Part dc14_a01_insert_2_1_2 -->
    <visual>
      <origin xyz="-4.85723e-17 0.012 -0.0205" rpy="4.64622e-15 1.36908e-15 -3.14159"/>
      <geometry>
        <mesh filename="package://assets/dc14_a01_insert_2_1.stl"/>
      </geometry>
      <material name="dc14_a01_insert_2_1_2_material">
        <color rgba="0.615686 0.811765 0.929412 1.0"/>
      </material>
    </visual>
    <collision>
      <origin xyz="-4.85723e-17 0.012 -0.0205" rpy="4.64622e-15 1.36908e-15 -3.14159"/>
      <geometry>
        <mesh filename="package://assets/dc14_a01_insert_2_1.stl"/>
      </geometry>
    </collision>
    <!-- Part dc14_a01_insert_2_4_2 -->
    <visual>
      <origin xyz="-4.85723e-17 0.012 -0.0205" rpy="4.64622e-15 1.36908e-15 -3.14159"/>
      <geometry>
        <mesh filename="package://assets/dc14_a01_insert_2_4.stl"/>
      </geometry>
      <material name="dc14_a01_insert_2_4_2_material">
        <color rgba="0.498039 0.498039 0.498039 1.0"/>
      </material>
    </visual>
    <collision>
      <origin xyz="-4.85723e-17 0.012 -0.0205" rpy="4.64622e-15 1.36908e-15 -3.14159"/>
      <geometry>
        <mesh filename="package://assets/dc14_a01_insert_2_4.stl"/>
      </geometry>
    </collision>
    <!-- Part phs_m2x33_tap_k_1_2 -->
    <visual>
      <origin xyz="-4.85723e-17 0.012 -0.0205" rpy="4.64622e-15 1.36908e-15 -3.14159"/>
      <geometry>
        <mesh filename="package://assets/phs_m2x33_tap_k_1.stl"/>
      </geometry>
      <material name="phs_m2x33_tap_k_1_2_material">
        <color rgba="0.615686 0.811765 0.929412 1.0"/>
      </material>
    </visual>
    <collision>
      <origin xyz="-4.85723e-17 0.012 -0.0205" rpy="4.64622e-15 1.36908e-15 -3.14159"/>
      <geometry>
        <mesh filename="package://assets/phs_m2x33_tap_k_1.stl"/>
      </geometry>
    </collision>
    <!-- Part dc11_a01_idler_cap_ref_2 -->
    <visual>
      <origin xyz="-4.85723e-17 0.012 -0.0205" rpy="4.64622e-15 1.36908e-15 -3.14159"/>
      <geometry>
        <mesh filename="package://assets/dc11_a01_idler_cap_ref.stl"/>
      </geometry>
      <material name="dc11_a01_idler_cap_ref_2_material">
        <color rgba="0.647059 0.647059 0.647059 1.0"/>
      </material>
    </visual>
    <collision>
      <origin xyz="-4.85723e-17 0.012 -0.0205" rpy="4.64622e-15 1.36908e-15 -3.14159"/>
      <geometry>
        <mesh filename="package://assets/dc11_a01_idler_cap_ref.stl"/>
      </geometry>
    </collision>
    <!-- Part dc14_a01_ref_2 -->
    <visual>
      <origin xyz="-4.85723e-17 0.012 -0.0205" rpy="4.64622e-15 1.36908e-15 -3.14159"/>
      <geometry>
        <mesh filename="package://assets/dc14_a01_ref.stl"/>
      </geometry>
      <material name="dc14_a01_ref_2_material">
        <color rgba="0.647059 0.647059 0.647059 1.0"/>
      </material>
    </visual>
    <collision>
      <origin xyz="-4.85723e-17 0.012 -0.0205" rpy="4.64622e-15 1.36908e-15 -3.14159"/>
      <geometry>
        <mesh filename="package://assets/dc14_a01_ref.stl"/>
      </geometry>
    </collision>
    <!-- Part dc11_a01_horn_ref_1_2 -->
    <visual>
      <origin xyz="-4.85723e-17 0.012 -0.0205" rpy="4.64622e-15 1.36908e-15 -3.14159"/>
      <geometry>
        <mesh filename="package://assets/dc11_a01_horn_ref_1.stl"/>
      </geometry>
      <material name="dc11_a01_horn_ref_1_2_material">
        <color rgba="0.972549 0.529412 0.00392157 1.0"/>
      </material>
    </visual>
    <collision>
      <origin xyz="-4.85723e-17 0.012 -0.0205" rpy="4.64622e-15 1.36908e-15 -3.14159"/>
      <geometry>
        <mesh filename="package://assets/dc11_a01_horn_ref_1.stl"/>
      </geometry>
    </collision>
    <!-- Part dc14_a01_insert_1_2 -->
    <visual>
      <origin xyz="-4.85723e-17 0.012 -0.0205" rpy="4.64622e-15 1.36908e-15 -3.14159"/>
      <geometry>
        <mesh filename="package://assets/dc14_a01_insert_1.stl"/>
      </geometry>
      <material name="dc14_a01_insert_1_2_material">
        <color rgba="0.498039 0.498039 0.498039 1.0"/>
      </material>
    </visual>
    <collision>
      <origin xyz="-4.85723e-17 0.012 -0.0205" rpy="4.64622e-15 1.36908e-15 -3.14159"/>
      <geometry>
        <mesh filename="package://assets/dc14_a01_insert_1.stl"/>
      </geometry>
    </collision>
    <!-- Part dc14_a01_insert_2_3_2 -->
    <visual>
      <origin xyz="-4.85723e-17 0.012 -0.0205" rpy="4.64622e-15 1.36908e-15 -3.14159"/>
      <geometry>
        <mesh filename="package://assets/dc14_a01_insert_2_3.stl"/>
      </geometry>
      <material name="dc14_a01_insert_2_3_2_material">
        <color rgba="0.768627 0.886275 0.952941 1.0"/>
      </material>
    </visual>
    <collision>
      <origin xyz="-4.85723e-17 0.012 -0.0205" rpy="4.64622e-15 1.36908e-15 -3.14159"/>
      <geometry>
        <mesh filename="package://assets/dc14_a01_insert_2_3.stl"/>
      </geometry>
    </collision>
    <!-- Part dc11_a01_idler_screw_2 -->
    <visual>
      <origin xyz="-4.85723e-17 0.012 -0.0205" rpy="4.64622e-15 1.36908e-15 -3.14159"/>
      <geometry>
        <mesh filename="package://assets/dc11_a01_idler_screw.stl"/>
      </geometry>
      <material name="dc11_a01_idler_screw_2_material">
        <color rgba="0.231373 0.380392 0.705882 1.0"/>
      </material>
    </visual>
    <collision>
      <origin xyz="-4.85723e-17 0.012 -0.0205" rpy="4.64622e-15 1.36908e-15 -3.14159"/>
      <geometry>
        <mesh filename="package://assets/dc11_a01_idler_screw.stl"/>
      </geometry>
    </collision>
    <!-- Part dc14_a01_insert_2_7_2 -->
    <visual>
      <origin xyz="-4.85723e-17 0.012 -0.0205" rpy="4.64622e-15 1.36908e-15 -3.14159"/>
      <geometry>
        <mesh filename="package://assets/dc14_a01_insert_2_7.stl"/>
      </geometry>
      <material name="dc14_a01_insert_2_7_2_material">
        <color rgba="0.768627 0.886275 0.952941 1.0"/>
      </material>
    </visual>
    <collision>
      <origin xyz="-4.85723e-17 0.012 -0.0205" rpy="4.64622e-15 1.36908e-15 -3.14159"/>
      <geometry>
        <mesh filename="package://assets/dc14_a01_insert_2_7.stl"/>
      </geometry>
    </collision>
    <!-- Part dc14_a01_insert_2_6_2 -->
    <visual>
      <origin xyz="-4.85723e-17 0.012 -0.0205" rpy="4.64622e-15 1.36908e-15 -3.14159"/>
      <geometry>
        <mesh filename="package://assets/dc14_a01_insert_2_6.stl"/>
      </geometry>
      <material name="dc14_a01_insert_2_6_2_material">
        <color rgba="0.231373 0.380392 0.705882 1.0"/>
      </material>
    </visual>
    <collision>
      <origin xyz="-4.85723e-17 0.012 -0.0205" rpy="4.64622e-15 1.36908e-15 -3.14159"/>
      <geometry>
        <mesh filename="package://assets/dc14_a01_insert_2_6.stl"/>
      </geometry>
    </collision>
    <!-- Part dc11_a01_horn_ref_2 -->
    <visual>
      <origin xyz="-4.85723e-17 0.012 -0.0205" rpy="4.64622e-15 1.36908e-15 -3.14159"/>
      <geometry>
        <mesh filename="package://assets/dc11_a01_horn_ref.stl"/>
      </geometry>
      <material name="dc11_a01_horn_ref_2_material">
        <color rgba="0.231373 0.380392 0.705882 1.0"/>
      </material>
    </visual>
    <collision>
      <origin xyz="-4.85723e-17 0.012 -0.0205" rpy="4.64622e-15 1.36908e-15 -3.14159"/>
      <geometry>
        <mesh filename="package://assets/dc11_a01_horn_ref.stl"/>
      </geometry>
    </collision>
    <!-- Part ehr_3_2 -->
    <visual>
      <origin xyz="-4.85723e-17 0.012 -0.0205" rpy="4.64622e-15 1.36908e-15 -3.14159"/>
      <geometry>
        <mesh filename="package://assets/ehr_3.stl"/>
      </geometry>
      <material name="ehr_3_2_material">
        <color rgba="0.768627 0.886275 0.952941 1.0"/>
      </material>
    </visual>
    <collision>
      <origin xyz="-4.85723e-17 0.012 -0.0205" rpy="4.64622e-15 1.36908e-15 -3.14159"/>
      <geometry>
        <mesh filename="package://assets/ehr_3.stl"/>
      </geometry>
    </collision>
    <!-- Part dc14_a01_insert_1_1_2 -->
    <visual>
      <origin xyz="-4.85723e-17 0.012 -0.0205" rpy="4.64622e-15 1.36908e-15 -3.14159"/>
      <geometry>
        <mesh filename="package://assets/dc14_a01_insert_1_1.stl"/>
      </geometry>
      <material name="dc14_a01_insert_1_1_2_material">
        <color rgba="0.615686 0.811765 0.929412 1.0"/>
      </material>
    </visual>
    <collision>
      <origin xyz="-4.85723e-17 0.012 -0.0205" rpy="4.64622e-15 1.36908e-15 -3.14159"/>
      <geometry>
        <mesh filename="package://assets/dc14_a01_insert_1_1.stl"/>
      </geometry>
    </collision>
  </link>
  <!-- Link shell_motor_3 -->
  <link name="shell_motor_3">
    <inertial>
      <origin xyz="-0.000239027 0.00655795 -0.0218542" rpy="0 0 0"/>
      <mass value="0.14763"/>
      <inertia ixx="0.000538322" ixy="2.21958e-07" ixz="-2.69169e-07" iyy="7.25809e-05" iyz="-2.65012e-06" izz="0.000576666"/>
    </inertial>
    <!-- Part mgn7c_1_bearing_9 -->
    <visual>
      <origin xyz="-0.021 -0.088 -0.0245" rpy="-1.5708 1.5708 0"/>
      <geometry>
        <mesh filename="package://assets/mgn7c_1_bearing.stl"/>
      </geometry>
      <material name="mgn7c_1_bearing_9_material">
        <color rgba="0.231373 0.380392 0.705882 1.0"/>
      </material>
    </visual>
    <collision>
      <origin xyz="-0.021 -0.088 -0.0245" rpy="-1.5708 1.5708 0"/>
      <geometry>
        <mesh filename="package://assets/mgn7c_1_bearing.stl"/>
      </geometry>
    </collision>
    <!-- Part mgn7c_1_bearing_10 -->
    <visual>
      <origin xyz="0.021 -0.088 -0.0245" rpy="1.5708 1.5708 0"/>
      <geometry>
        <mesh filename="package://assets/mgn7c_1_bearing.stl"/>
      </geometry>
      <material name="mgn7c_1_bearing_10_material">
        <color rgba="0.231373 0.380392 0.705882 1.0"/>
      </material>
    </visual>
    <collision>
      <origin xyz="0.021 -0.088 -0.0245" rpy="1.5708 1.5708 0"/>
      <geometry>
        <mesh filename="package://assets/mgn7c_1_bearing.stl"/>
      </geometry>
    </collision>
    <!-- Part mgn7c_1_bearing_11 -->
    <visual>
      <origin xyz="0.021 0.088 -0.0245" rpy="1.5708 1.5708 0"/>
      <geometry>
        <mesh filename="package://assets/mgn7c_1_bearing.stl"/>
      </geometry>
      <material name="mgn7c_1_bearing_11_material">
        <color rgba="0.231373 0.380392 0.705882 1.0"/>
      </material>
    </visual>
    <collision>
      <origin xyz="0.021 0.088 -0.0245" rpy="1.5708 1.5708 0"/>
      <geometry>
        <mesh filename="package://assets/mgn7c_1_bearing.stl"/>
      </geometry>
    </collision>
    <!-- Part mgn7c_1_bearing_12 -->
    <visual>
      <origin xyz="-0.021 0.088 -0.0245" rpy="-1.5708 1.5708 0"/>
      <geometry>
        <mesh filename="package://assets/mgn7c_1_bearing.stl"/>
      </geometry>
      <material name="mgn7c_1_bearing_12_material">
        <color rgba="0.231373 0.380392 0.705882 1.0"/>
      </material>
    </visual>
    <collision>
      <origin xyz="-0.021 0.088 -0.0245" rpy="-1.5708 1.5708 0"/>
      <geometry>
        <mesh filename="package://assets/mgn7c_1_bearing.stl"/>
      </geometry>
    </collision>
    <!-- Part spacer_ring_3 -->
    <visual>
      <origin xyz="6.93889e-18 5.85469e-18 -0.0535" rpy="7.01267e-17 -1.0219e-16 -4.86796e-16"/>
      <geometry>
        <mesh filename="package://assets/spacer_ring.stl"/>
      </geometry>
      <material name="spacer_ring_3_material">
        <color rgba="0.615686 0.811765 0.929412 1.0"/>
      </material>
    </visual>
    <collision>
      <origin xyz="6.93889e-18 5.85469e-18 -0.0535" rpy="7.01267e-17 -1.0219e-16 -4.86796e-16"/>
      <geometry>
        <mesh filename="package://assets/spacer_ring.stl"/>
      </geometry>
    </collision>
    <!-- Part shell_3 -->
    <visual>
      <origin xyz="0 0.1 -0.0245" rpy="1.5708 1.5708 0"/>
      <geometry>
        <mesh filename="package://assets/shell.stl"/>
      </geometry>
      <material name="shell_3_material">
        <color rgba="0.623529 0.666667 0.701961 1.0"/>
      </material>
    </visual>
    <collision>
      <origin xyz="0 0.1 -0.0245" rpy="1.5708 1.5708 0"/>
      <geometry>
        <mesh filename="package://assets/shell.stl"/>
      </geometry>
    </collision>
    <!-- Part dc11_a01_idler_ref_3 -->
    <visual>
      <origin xyz="-4.16334e-17 0.012 -0.0195" rpy="-7.01267e-17 3.78831e-16 3.14159"/>
      <geometry>
        <mesh filename="package://assets/dc11_a01_idler_ref.stl"/>
      </geometry>
      <material name="dc11_a01_idler_ref_3_material">
        <color rgba="0.615686 0.811765 0.929412 1.0"/>
      </material>
    </visual>
    <collision>
      <origin xyz="-4.16334e-17 0.012 -0.0195" rpy="-7.01267e-17 3.78831e-16 3.14159"/>
      <geometry>
        <mesh filename="package://assets/dc11_a01_idler_ref.stl"/>
      </geometry>
    </collision>
    <!-- Part phs_m2x33_tap_k_3_3 -->
    <visual>
      <origin xyz="-4.16334e-17 0.012 -0.0195" rpy="-7.01267e-17 3.78831e-16 3.14159"/>
      <geometry>
        <mesh filename="package://assets/phs_m2x33_tap_k_3.stl"/>
      </geometry>
      <material name="phs_m2x33_tap_k_3_3_material">
        <color rgba="0.768627 0.886275 0.952941 1.0"/>
      </material>
    </visual>
    <collision>
      <origin xyz="-4.16334e-17 0.012 -0.0195" rpy="-7.01267e-17 3.78831e-16 3.14159"/>
      <geometry>
        <mesh filename="package://assets/phs_m2x33_tap_k_3.stl"/>
      </geometry>
    </collision>
    <!-- Part fhs_m2_5x06_nylok_1_3 -->
    <visual>
      <origin xyz="-4.16334e-17 0.012 -0.0195" rpy="-7.01267e-17 3.78831e-16 3.14159"/>
      <geometry>
        <mesh filename="package://assets/fhs_m2_5x06_nylok_1.stl"/>
      </geometry>
      <material name="fhs_m2_5x06_nylok_1_3_material">
        <color rgba="0.498039 0.498039 0.498039 1.0"/>
      </material>
    </visual>
    <collision>
      <origin xyz="-4.16334e-17 0.012 -0.0195" rpy="-7.01267e-17 3.78831e-16 3.14159"/>
      <geometry>
        <mesh filename="package://assets/fhs_m2_5x06_nylok_1.stl"/>
      </geometry>
    </collision>
    <!-- Part fhs_m2_5x06_nylok_3 -->
    <visual>
      <origin xyz="-4.16334e-17 0.012 -0.0195" rpy="-7.01267e-17 3.78831e-16 3.14159"/>
      <geometry>
        <mesh filename="package://assets/fhs_m2_5x06_nylok.stl"/>
      </geometry>
      <material name="fhs_m2_5x06_nylok_3_material">
        <color rgba="0.917647 0.917647 0.917647 1.0"/>
      </material>
    </visual>
    <collision>
      <origin xyz="-4.16334e-17 0.012 -0.0195" rpy="-7.01267e-17 3.78831e-16 3.14159"/>
      <geometry>
        <mesh filename="package://assets/fhs_m2_5x06_nylok.stl"/>
      </geometry>
    </collision>
    <!-- Part ehr_3_1_3 -->
    <visual>
      <origin xyz="-4.16334e-17 0.012 -0.0195" rpy="-7.01267e-17 3.78831e-16 3.14159"/>
      <geometry>
        <mesh filename="package://assets/ehr_3_1.stl"/>
      </geometry>
      <material name="ehr_3_1_3_material">
        <color rgba="0.972549 0.529412 0.00392157 1.0"/>
      </material>
    </visual>
    <collision>
      <origin xyz="-4.16334e-17 0.012 -0.0195" rpy="-7.01267e-17 3.78831e-16 3.14159"/>
      <geometry>
        <mesh filename="package://assets/ehr_3_1.stl"/>
      </geometry>
    </collision>
    <!-- Part gear_5 -->
    <visual>
      <origin xyz="-0.0231 0.024 -0.0195" rpy="1.5708 -1.5708 0"/>
      <geometry>
        <mesh filename="package://assets/gear.stl"/>
      </geometry>
      <material name="gear_5_material">
        <color rgba="0.615686 0.811765 0.929412 1.0"/>
      </material>
    </visual>
    <collision>
      <origin xyz="-0.0231 0.024 -0.0195" rpy="1.5708 -1.5708 0"/>
      <geometry>
        <mesh filename="package://assets/gear.stl"/>
      </geometry>
    </collision>
    <!-- Part s3b_eh_1_3 -->
    <visual>
      <origin xyz="-4.16334e-17 0.012 -0.0195" rpy="-7.01267e-17 3.78831e-16 3.14159"/>
      <geometry>
        <mesh filename="package://assets/s3b_eh_1.stl"/>
      </geometry>
      <material name="s3b_eh_1_3_material">
        <color rgba="0.917647 0.917647 0.917647 1.0"/>
      </material>
    </visual>
    <collision>
      <origin xyz="-4.16334e-17 0.012 -0.0195" rpy="-7.01267e-17 3.78831e-16 3.14159"/>
      <geometry>
        <mesh filename="package://assets/s3b_eh_1.stl"/>
      </geometry>
    </collision>
    <!-- Part phs_m2x33_tap_k_2_3 -->
    <visual>
      <origin xyz="-4.16334e-17 0.012 -0.0195" rpy="-7.01267e-17 3.78831e-16 3.14159"/>
      <geometry>
        <mesh filename="package://assets/phs_m2x33_tap_k_2.stl"/>
      </geometry>
      <material name="phs_m2x33_tap_k_2_3_material">
        <color rgba="0.231373 0.380392 0.705882 1.0"/>
      </material>
    </visual>
    <collision>
      <origin xyz="-4.16334e-17 0.012 -0.0195" rpy="-7.01267e-17 3.78831e-16 3.14159"/>
      <geometry>
        <mesh filename="package://assets/phs_m2x33_tap_k_2.stl"/>
      </geometry>
    </collision>
    <!-- Part s3b_eh_3 -->
    <visual>
      <origin xyz="-4.16334e-17 0.012 -0.0195" rpy="-7.01267e-17 3.78831e-16 3.14159"/>
      <geometry>
        <mesh filename="package://assets/s3b_eh.stl"/>
      </geometry>
      <material name="s3b_eh_3_material">
        <color rgba="0.231373 0.380392 0.705882 1.0"/>
      </material>
    </visual>
    <collision>
      <origin xyz="-4.16334e-17 0.012 -0.0195" rpy="-7.01267e-17 3.78831e-16 3.14159"/>
      <geometry>
        <mesh filename="package://assets/s3b_eh.stl"/>
      </geometry>
    </collision>
    <!-- Part phs_m2x33_tap_k_3 -->
    <visual>
      <origin xyz="-4.16334e-17 0.012 -0.0195" rpy="-7.01267e-17 3.78831e-16 3.14159"/>
      <geometry>
        <mesh filename="package://assets/phs_m2x33_tap_k.stl"/>
      </geometry>
      <material name="phs_m2x33_tap_k_3_material">
        <color rgba="0.498039 0.498039 0.498039 1.0"/>
      </material>
    </visual>
    <collision>
      <origin xyz="-4.16334e-17 0.012 -0.0195" rpy="-7.01267e-17 3.78831e-16 3.14159"/>
      <geometry>
        <mesh filename="package://assets/phs_m2x33_tap_k.stl"/>
      </geometry>
    </collision>
    <!-- Part gear_6 -->
    <visual>
      <origin xyz="0.0231 0.024 -0.0195" rpy="1.5708 1.5708 0"/>
      <geometry>
        <mesh filename="package://assets/gear.stl"/>
      </geometry>
      <material name="gear_6_material">
        <color rgba="0.615686 0.811765 0.929412 1.0"/>
      </material>
    </visual>
    <collision>
      <origin xyz="0.0231 0.024 -0.0195" rpy="1.5708 1.5708 0"/>
      <geometry>
        <mesh filename="package://assets/gear.stl"/>
      </geometry>
    </collision>
    <!-- Part dc14_a01_insert_2_3 -->
    <visual>
      <origin xyz="-4.16334e-17 0.012 -0.0195" rpy="-7.01267e-17 3.78831e-16 3.14159"/>
      <geometry>
        <mesh filename="package://assets/dc14_a01_insert_2.stl"/>
      </geometry>
      <material name="dc14_a01_insert_2_3_material">
        <color rgba="0.498039 0.498039 0.498039 1.0"/>
      </material>
    </visual>
    <collision>
      <origin xyz="-4.16334e-17 0.012 -0.0195" rpy="-7.01267e-17 3.78831e-16 3.14159"/>
      <geometry>
        <mesh filename="package://assets/dc14_a01_insert_2.stl"/>
      </geometry>
    </collision>
    <!-- Part dc14_a01_insert_2_5_3 -->
    <visual>
      <origin xyz="-4.16334e-17 0.012 -0.0195" rpy="-7.01267e-17 3.78831e-16 3.14159"/>
      <geometry>
        <mesh filename="package://assets/dc14_a01_insert_2_5.stl"/>
      </geometry>
      <material name="dc14_a01_insert_2_5_3_material">
        <color rgba="0.615686 0.811765 0.929412 1.0"/>
      </material>
    </visual>
    <collision>
      <origin xyz="-4.16334e-17 0.012 -0.0195" rpy="-7.01267e-17 3.78831e-16 3.14159"/>
      <geometry>
        <mesh filename="package://assets/dc14_a01_insert_2_5.stl"/>
      </geometry>
    </collision>
    <!-- Part dc14_a01_insert_2_2_3 -->
    <visual>
      <origin xyz="-4.16334e-17 0.012 -0.0195" rpy="-7.01267e-17 3.78831e-16 3.14159"/>
      <geometry>
        <mesh filename="package://assets/dc14_a01_insert_2_2.stl"/>
      </geometry>
      <material name="dc14_a01_insert_2_2_3_material">
        <color rgba="0.231373 0.380392 0.705882 1.0"/>
      </material>
    </visual>
    <collision>
      <origin xyz="-4.16334e-17 0.012 -0.0195" rpy="-7.01267e-17 3.78831e-16 3.14159"/>
      <geometry>
        <mesh filename="package://assets/dc14_a01_insert_2_2.stl"/>
      </geometry>
    </collision>
    <!-- Part dc11_a01_idler_cap_ref_1_3 -->
    <visual>
      <origin xyz="-4.16334e-17 0.012 -0.0195" rpy="-7.01267e-17 3.78831e-16 3.14159"/>
      <geometry>
        <mesh filename="package://assets/dc11_a01_idler_cap_ref_1.stl"/>
      </geometry>
      <material name="dc11_a01_idler_cap_ref_1_3_material">
        <color rgba="0.972549 0.529412 0.00392157 1.0"/>
      </material>
    </visual>
    <collision>
      <origin xyz="-4.16334e-17 0.012 -0.0195" rpy="-7.01267e-17 3.78831e-16 3.14159"/>
      <geometry>
        <mesh filename="package://assets/dc11_a01_idler_cap_ref_1.stl"/>
      </geometry>
    </collision>
    <!-- Part dc11_a01_idler_ref_1_3 -->
    <visual>
      <origin xyz="-4.16334e-17 0.012 -0.0195" rpy="-7.01267e-17 3.78831e-16 3.14159"/>
      <geometry>
        <mesh filename="package://assets/dc11_a01_idler_ref_1.stl"/>
      </geometry>
      <material name="dc11_a01_idler_ref_1_3_material">
        <color rgba="0.768627 0.886275 0.952941 1.0"/>
      </material>
    </visual>
    <collision>
      <origin xyz="-4.16334e-17 0.012 -0.0195" rpy="-7.01267e-17 3.78831e-16 3.14159"/>
      <geometry>
        <mesh filename="package://assets/dc11_a01_idler_ref_1.stl"/>
      </geometry>
    </collision>
    <!-- Part dc11_a01_idler_screw_1_3 -->
    <visual>
      <origin xyz="-4.16334e-17 0.012 -0.0195" rpy="-7.01267e-17 3.78831e-16 3.14159"/>
      <geometry>
        <mesh filename="package://assets/dc11_a01_idler_screw_1.stl"/>
      </geometry>
      <material name="dc11_a01_idler_screw_1_3_material">
        <color rgba="0.498039 0.498039 0.498039 1.0"/>
      </material>
    </visual>
    <collision>
      <origin xyz="-4.16334e-17 0.012 -0.0195" rpy="-7.01267e-17 3.78831e-16 3.14159"/>
      <geometry>
        <mesh filename="package://assets/dc11_a01_idler_screw_1.stl"/>
      </geometry>
    </collision>
    <!-- Part dc14_a01_insert_2_1_3 -->
    <visual>
      <origin xyz="-4.16334e-17 0.012 -0.0195" rpy="-7.01267e-17 3.78831e-16 3.14159"/>
      <geometry>
        <mesh filename="package://assets/dc14_a01_insert_2_1.stl"/>
      </geometry>
      <material name="dc14_a01_insert_2_1_3_material">
        <color rgba="0.615686 0.811765 0.929412 1.0"/>
      </material>
    </visual>
    <collision>
      <origin xyz="-4.16334e-17 0.012 -0.0195" rpy="-7.01267e-17 3.78831e-16 3.14159"/>
      <geometry>
        <mesh filename="package://assets/dc14_a01_insert_2_1.stl"/>
      </geometry>
    </collision>
    <!-- Part dc14_a01_insert_2_4_3 -->
    <visual>
      <origin xyz="-4.16334e-17 0.012 -0.0195" rpy="-7.01267e-17 3.78831e-16 3.14159"/>
      <geometry>
        <mesh filename="package://assets/dc14_a01_insert_2_4.stl"/>
      </geometry>
      <material name="dc14_a01_insert_2_4_3_material">
        <color rgba="0.498039 0.498039 0.498039 1.0"/>
      </material>
    </visual>
    <collision>
      <origin xyz="-4.16334e-17 0.012 -0.0195" rpy="-7.01267e-17 3.78831e-16 3.14159"/>
      <geometry>
        <mesh filename="package://assets/dc14_a01_insert_2_4.stl"/>
      </geometry>
    </collision>
    <!-- Part phs_m2x33_tap_k_1_3 -->
    <visual>
      <origin xyz="-4.16334e-17 0.012 -0.0195" rpy="-7.01267e-17 3.78831e-16 3.14159"/>
      <geometry>
        <mesh filename="package://assets/phs_m2x33_tap_k_1.stl"/>
      </geometry>
      <material name="phs_m2x33_tap_k_1_3_material">
        <color rgba="0.615686 0.811765 0.929412 1.0"/>
      </material>
    </visual>
    <collision>
      <origin xyz="-4.16334e-17 0.012 -0.0195" rpy="-7.01267e-17 3.78831e-16 3.14159"/>
      <geometry>
        <mesh filename="package://assets/phs_m2x33_tap_k_1.stl"/>
      </geometry>
    </collision>
    <!-- Part dc11_a01_idler_cap_ref_3 -->
    <visual>
      <origin xyz="-4.16334e-17 0.012 -0.0195" rpy="-7.01267e-17 3.78831e-16 3.14159"/>
      <geometry>
        <mesh filename="package://assets/dc11_a01_idler_cap_ref.stl"/>
      </geometry>
      <material name="dc11_a01_idler_cap_ref_3_material">
        <color rgba="0.647059 0.647059 0.647059 1.0"/>
      </material>
    </visual>
    <collision>
      <origin xyz="-4.16334e-17 0.012 -0.0195" rpy="-7.01267e-17 3.78831e-16 3.14159"/>
      <geometry>
        <mesh filename="package://assets/dc11_a01_idler_cap_ref.stl"/>
      </geometry>
    </collision>
    <!-- Part dc14_a01_ref_3 -->
    <visual>
      <origin xyz="-4.16334e-17 0.012 -0.0195" rpy="-7.01267e-17 3.78831e-16 3.14159"/>
      <geometry>
        <mesh filename="package://assets/dc14_a01_ref.stl"/>
      </geometry>
      <material name="dc14_a01_ref_3_material">
        <color rgba="0.647059 0.647059 0.647059 1.0"/>
      </material>
    </visual>
    <collision>
      <origin xyz="-4.16334e-17 0.012 -0.0195" rpy="-7.01267e-17 3.78831e-16 3.14159"/>
      <geometry>
        <mesh filename="package://assets/dc14_a01_ref.stl"/>
      </geometry>
    </collision>
    <!-- Part dc11_a01_horn_ref_1_3 -->
    <visual>
      <origin xyz="-4.16334e-17 0.012 -0.0195" rpy="-7.01267e-17 3.78831e-16 3.14159"/>
      <geometry>
        <mesh filename="package://assets/dc11_a01_horn_ref_1.stl"/>
      </geometry>
      <material name="dc11_a01_horn_ref_1_3_material">
        <color rgba="0.972549 0.529412 0.00392157 1.0"/>
      </material>
    </visual>
    <collision>
      <origin xyz="-4.16334e-17 0.012 -0.0195" rpy="-7.01267e-17 3.78831e-16 3.14159"/>
      <geometry>
        <mesh filename="package://assets/dc11_a01_horn_ref_1.stl"/>
      </geometry>
    </collision>
    <!-- Part dc14_a01_insert_1_3 -->
    <visual>
      <origin xyz="-4.16334e-17 0.012 -0.0195" rpy="-7.01267e-17 3.78831e-16 3.14159"/>
      <geometry>
        <mesh filename="package://assets/dc14_a01_insert_1.stl"/>
      </geometry>
      <material name="dc14_a01_insert_1_3_material">
        <color rgba="0.498039 0.498039 0.498039 1.0"/>
      </material>
    </visual>
    <collision>
      <origin xyz="-4.16334e-17 0.012 -0.0195" rpy="-7.01267e-17 3.78831e-16 3.14159"/>
      <geometry>
        <mesh filename="package://assets/dc14_a01_insert_1.stl"/>
      </geometry>
    </collision>
    <!-- Part dc14_a01_insert_2_3_3 -->
    <visual>
      <origin xyz="-4.16334e-17 0.012 -0.0195" rpy="-7.01267e-17 3.78831e-16 3.14159"/>
      <geometry>
        <mesh filename="package://assets/dc14_a01_insert_2_3.stl"/>
      </geometry>
      <material name="dc14_a01_insert_2_3_3_material">
        <color rgba="0.768627 0.886275 0.952941 1.0"/>
      </material>
    </visual>
    <collision>
      <origin xyz="-4.16334e-17 0.012 -0.0195" rpy="-7.01267e-17 3.78831e-16 3.14159"/>
      <geometry>
        <mesh filename="package://assets/dc14_a01_insert_2_3.stl"/>
      </geometry>
    </collision>
    <!-- Part dc11_a01_idler_screw_3 -->
    <visual>
      <origin xyz="-4.16334e-17 0.012 -0.0195" rpy="-7.01267e-17 3.78831e-16 3.14159"/>
      <geometry>
        <mesh filename="package://assets/dc11_a01_idler_screw.stl"/>
      </geometry>
      <material name="dc11_a01_idler_screw_3_material">
        <color rgba="0.231373 0.380392 0.705882 1.0"/>
      </material>
    </visual>
    <collision>
      <origin xyz="-4.16334e-17 0.012 -0.0195" rpy="-7.01267e-17 3.78831e-16 3.14159"/>
      <geometry>
        <mesh filename="package://assets/dc11_a01_idler_screw.stl"/>
      </geometry>
    </collision>
    <!-- Part dc14_a01_insert_2_7_3 -->
    <visual>
      <origin xyz="-4.16334e-17 0.012 -0.0195" rpy="-7.01267e-17 3.78831e-16 3.14159"/>
      <geometry>
        <mesh filename="package://assets/dc14_a01_insert_2_7.stl"/>
      </geometry>
      <material name="dc14_a01_insert_2_7_3_material">
        <color rgba="0.768627 0.886275 0.952941 1.0"/>
      </material>
    </visual>
    <collision>
      <origin xyz="-4.16334e-17 0.012 -0.0195" rpy="-7.01267e-17 3.78831e-16 3.14159"/>
      <geometry>
        <mesh filename="package://assets/dc14_a01_insert_2_7.stl"/>
      </geometry>
    </collision>
    <!-- Part dc14_a01_insert_2_6_3 -->
    <visual>
      <origin xyz="-4.16334e-17 0.012 -0.0195" rpy="-7.01267e-17 3.78831e-16 3.14159"/>
      <geometry>
        <mesh filename="package://assets/dc14_a01_insert_2_6.stl"/>
      </geometry>
      <material name="dc14_a01_insert_2_6_3_material">
        <color rgba="0.231373 0.380392 0.705882 1.0"/>
      </material>
    </visual>
    <collision>
      <origin xyz="-4.16334e-17 0.012 -0.0195" rpy="-7.01267e-17 3.78831e-16 3.14159"/>
      <geometry>
        <mesh filename="package://assets/dc14_a01_insert_2_6.stl"/>
      </geometry>
    </collision>
    <!-- Part dc11_a01_horn_ref_3 -->
    <visual>
      <origin xyz="-4.16334e-17 0.012 -0.0195" rpy="-7.01267e-17 3.78831e-16 3.14159"/>
      <geometry>
        <mesh filename="package://assets/dc11_a01_horn_ref.stl"/>
      </geometry>
      <material name="dc11_a01_horn_ref_3_material">
        <color rgba="0.231373 0.380392 0.705882 1.0"/>
      </material>
    </visual>
    <collision>
      <origin xyz="-4.16334e-17 0.012 -0.0195" rpy="-7.01267e-17 3.78831e-16 3.14159"/>
      <geometry>
        <mesh filename="package://assets/dc11_a01_horn_ref.stl"/>
      </geometry>
    </collision>
    <!-- Part ehr_3_3 -->
    <visual>
      <origin xyz="-4.16334e-17 0.012 -0.0195" rpy="-7.01267e-17 3.78831e-16 3.14159"/>
      <geometry>
        <mesh filename="package://assets/ehr_3.stl"/>
      </geometry>
      <material name="ehr_3_3_material">
        <color rgba="0.768627 0.886275 0.952941 1.0"/>
      </material>
    </visual>
    <collision>
      <origin xyz="-4.16334e-17 0.012 -0.0195" rpy="-7.01267e-17 3.78831e-16 3.14159"/>
      <geometry>
        <mesh filename="package://assets/ehr_3.stl"/>
      </geometry>
    </collision>
    <!-- Part dc14_a01_insert_1_1_3 -->
    <visual>
      <origin xyz="-4.16334e-17 0.012 -0.0195" rpy="-7.01267e-17 3.78831e-16 3.14159"/>
      <geometry>
        <mesh filename="package://assets/dc14_a01_insert_1_1.stl"/>
      </geometry>
      <material name="dc14_a01_insert_1_1_3_material">
        <color rgba="0.615686 0.811765 0.929412 1.0"/>
      </material>
    </visual>
    <collision>
      <origin xyz="-4.16334e-17 0.012 -0.0195" rpy="-7.01267e-17 3.78831e-16 3.14159"/>
      <geometry>
        <mesh filename="package://assets/dc14_a01_insert_1_1.stl"/>
      </geometry>
    </collision>
  </link>
  <!-- Link shell_motor_4 -->
  <link name="shell_motor_4">
    <inertial>
      <origin xyz="-0.000239027 0.00655795 -0.0243542" rpy="0 0 0"/>
      <mass value="0.14763"/>
      <inertia ixx="0.000538322" ixy="2.21958e-07" ixz="-2.69169e-07" iyy="7.25809e-05" iyz="-2.65012e-06" izz="0.000576666"/>
    </inertial>
    <!-- Part mgn7c_1_bearing_13 -->
    <visual>
      <origin xyz="-0.021 -0.088 -0.027" rpy="-1.5708 1.5708 0"/>
      <geometry>
        <mesh filename="package://assets/mgn7c_1_bearing.stl"/>
      </geometry>
      <material name="mgn7c_1_bearing_13_material">
        <color rgba="0.231373 0.380392 0.705882 1.0"/>
      </material>
    </visual>
    <collision>
      <origin xyz="-0.021 -0.088 -0.027" rpy="-1.5708 1.5708 0"/>
      <geometry>
        <mesh filename="package://assets/mgn7c_1_bearing.stl"/>
      </geometry>
    </collision>
    <!-- Part mgn7c_1_bearing_14 -->
    <visual>
      <origin xyz="0.021 -0.088 -0.027" rpy="1.5708 1.5708 0"/>
      <geometry>
        <mesh filename="package://assets/mgn7c_1_bearing.stl"/>
      </geometry>
      <material name="mgn7c_1_bearing_14_material">
        <color rgba="0.231373 0.380392 0.705882 1.0"/>
      </material>
    </visual>
    <collision>
      <origin xyz="0.021 -0.088 -0.027" rpy="1.5708 1.5708 0"/>
      <geometry>
        <mesh filename="package://assets/mgn7c_1_bearing.stl"/>
      </geometry>
    </collision>
    <!-- Part mgn7c_1_bearing_15 -->
    <visual>
      <origin xyz="0.021 0.088 -0.027" rpy="1.5708 1.5708 0"/>
      <geometry>
        <mesh filename="package://assets/mgn7c_1_bearing.stl"/>
      </geometry>
      <material name="mgn7c_1_bearing_15_material">
        <color rgba="0.231373 0.380392 0.705882 1.0"/>
      </material>
    </visual>
    <collision>
      <origin xyz="0.021 0.088 -0.027" rpy="1.5708 1.5708 0"/>
      <geometry>
        <mesh filename="package://assets/mgn7c_1_bearing.stl"/>
      </geometry>
    </collision>
    <!-- Part mgn7c_1_bearing_16 -->
    <visual>
      <origin xyz="-0.021 0.088 -0.027" rpy="-1.5708 1.5708 0"/>
      <geometry>
        <mesh filename="package://assets/mgn7c_1_bearing.stl"/>
      </geometry>
      <material name="mgn7c_1_bearing_16_material">
        <color rgba="0.231373 0.380392 0.705882 1.0"/>
      </material>
    </visual>
    <collision>
      <origin xyz="-0.021 0.088 -0.027" rpy="-1.5708 1.5708 0"/>
      <geometry>
        <mesh filename="package://assets/mgn7c_1_bearing.stl"/>
      </geometry>
    </collision>
    <!-- Part spacer_ring_4 -->
    <visual>
      <origin xyz="0 -2.66714e-17 -0.056" rpy="1.9618e-15 5.8217e-17 1.14283e-15"/>
      <geometry>
        <mesh filename="package://assets/spacer_ring.stl"/>
      </geometry>
      <material name="spacer_ring_4_material">
        <color rgba="0.615686 0.811765 0.929412 1.0"/>
      </material>
    </visual>
    <collision>
      <origin xyz="0 -2.66714e-17 -0.056" rpy="1.9618e-15 5.8217e-17 1.14283e-15"/>
      <geometry>
        <mesh filename="package://assets/spacer_ring.stl"/>
      </geometry>
    </collision>
    <!-- Part shell_4 -->
    <visual>
      <origin xyz="6.93889e-18 0.1 -0.027" rpy="1.5708 1.5708 0"/>
      <geometry>
        <mesh filename="package://assets/shell.stl"/>
      </geometry>
      <material name="shell_4_material">
        <color rgba="0.623529 0.666667 0.701961 1.0"/>
      </material>
    </visual>
    <collision>
      <origin xyz="6.93889e-18 0.1 -0.027" rpy="1.5708 1.5708 0"/>
      <geometry>
        <mesh filename="package://assets/shell.stl"/>
      </geometry>
    </collision>
    <!-- Part dc11_a01_idler_ref_4 -->
    <visual>
      <origin xyz="-5.96745e-16 0.012 -0.022" rpy="-4.90421e-16 -2.25815e-18 -3.14159"/>
      <geometry>
        <mesh filename="package://assets/dc11_a01_idler_ref.stl"/>
      </geometry>
      <material name="dc11_a01_idler_ref_4_material">
        <color rgba="0.615686 0.811765 0.929412 1.0"/>
      </material>
    </visual>
    <collision>
      <origin xyz="-5.96745e-16 0.012 -0.022" rpy="-4.90421e-16 -2.25815e-18 -3.14159"/>
      <geometry>
        <mesh filename="package://assets/dc11_a01_idler_ref.stl"/>
      </geometry>
    </collision>
    <!-- Part phs_m2x33_tap_k_3_4 -->
    <visual>
      <origin xyz="-5.96745e-16 0.012 -0.022" rpy="-4.90421e-16 -2.25815e-18 -3.14159"/>
      <geometry>
        <mesh filename="package://assets/phs_m2x33_tap_k_3.stl"/>
      </geometry>
      <material name="phs_m2x33_tap_k_3_4_material">
        <color rgba="0.768627 0.886275 0.952941 1.0"/>
      </material>
    </visual>
    <collision>
      <origin xyz="-5.96745e-16 0.012 -0.022" rpy="-4.90421e-16 -2.25815e-18 -3.14159"/>
      <geometry>
        <mesh filename="package://assets/phs_m2x33_tap_k_3.stl"/>
      </geometry>
    </collision>
    <!-- Part fhs_m2_5x06_nylok_1_4 -->
    <visual>
      <origin xyz="-5.96745e-16 0.012 -0.022" rpy="-4.90421e-16 -2.25815e-18 -3.14159"/>
      <geometry>
        <mesh filename="package://assets/fhs_m2_5x06_nylok_1.stl"/>
      </geometry>
      <material name="fhs_m2_5x06_nylok_1_4_material">
        <color rgba="0.498039 0.498039 0.498039 1.0"/>
      </material>
    </visual>
    <collision>
      <origin xyz="-5.96745e-16 0.012 -0.022" rpy="-4.90421e-16 -2.25815e-18 -3.14159"/>
      <geometry>
        <mesh filename="package://assets/fhs_m2_5x06_nylok_1.stl"/>
      </geometry>
    </collision>
    <!-- Part fhs_m2_5x06_nylok_4 -->
    <visual>
      <origin xyz="-5.96745e-16 0.012 -0.022" rpy="-4.90421e-16 -2.25815e-18 -3.14159"/>
      <geometry>
        <mesh filename="package://assets/fhs_m2_5x06_nylok.stl"/>
      </geometry>
      <material name="fhs_m2_5x06_nylok_4_material">
        <color rgba="0.917647 0.917647 0.917647 1.0"/>
      </material>
    </visual>
    <collision>
      <origin xyz="-5.96745e-16 0.012 -0.022" rpy="-4.90421e-16 -2.25815e-18 -3.14159"/>
      <geometry>
        <mesh filename="package://assets/fhs_m2_5x06_nylok.stl"/>
      </geometry>
    </collision>
    <!-- Part ehr_3_1_4 -->
    <visual>
      <origin xyz="-5.96745e-16 0.012 -0.022" rpy="-4.90421e-16 -2.25815e-18 -3.14159"/>
      <geometry>
        <mesh filename="package://assets/ehr_3_1.stl"/>
      </geometry>
      <material name="ehr_3_1_4_material">
        <color rgba="0.972549 0.529412 0.00392157 1.0"/>
      </material>
    </visual>
    <collision>
      <origin xyz="-5.96745e-16 0.012 -0.022" rpy="-4.90421e-16 -2.25815e-18 -3.14159"/>
      <geometry>
        <mesh filename="package://assets/ehr_3_1.stl"/>
      </geometry>
    </collision>
    <!-- Part gear_7 -->
    <visual>
      <origin xyz="-0.0231 0.024 -0.022" rpy="1.5708 -1.5708 0"/>
      <geometry>
        <mesh filename="package://assets/gear.stl"/>
      </geometry>
      <material name="gear_7_material">
        <color rgba="0.615686 0.811765 0.929412 1.0"/>
      </material>
    </visual>
    <collision>
      <origin xyz="-0.0231 0.024 -0.022" rpy="1.5708 -1.5708 0"/>
      <geometry>
        <mesh filename="package://assets/gear.stl"/>
      </geometry>
    </collision>
    <!-- Part s3b_eh_1_4 -->
    <visual>
      <origin xyz="-5.96745e-16 0.012 -0.022" rpy="-4.90421e-16 -2.25815e-18 -3.14159"/>
      <geometry>
        <mesh filename="package://assets/s3b_eh_1.stl"/>
      </geometry>
      <material name="s3b_eh_1_4_material">
        <color rgba="0.917647 0.917647 0.917647 1.0"/>
      </material>
    </visual>
    <collision>
      <origin xyz="-5.96745e-16 0.012 -0.022" rpy="-4.90421e-16 -2.25815e-18 -3.14159"/>
      <geometry>
        <mesh filename="package://assets/s3b_eh_1.stl"/>
      </geometry>
    </collision>
    <!-- Part phs_m2x33_tap_k_2_4 -->
    <visual>
      <origin xyz="-5.96745e-16 0.012 -0.022" rpy="-4.90421e-16 -2.25815e-18 -3.14159"/>
      <geometry>
        <mesh filename="package://assets/phs_m2x33_tap_k_2.stl"/>
      </geometry>
      <material name="phs_m2x33_tap_k_2_4_material">
        <color rgba="0.231373 0.380392 0.705882 1.0"/>
      </material>
    </visual>
    <collision>
      <origin xyz="-5.96745e-16 0.012 -0.022" rpy="-4.90421e-16 -2.25815e-18 -3.14159"/>
      <geometry>
        <mesh filename="package://assets/phs_m2x33_tap_k_2.stl"/>
      </geometry>
    </collision>
    <!-- Part s3b_eh_4 -->
    <visual>
      <origin xyz="-5.96745e-16 0.012 -0.022" rpy="-4.90421e-16 -2.25815e-18 -3.14159"/>
      <geometry>
        <mesh filename="package://assets/s3b_eh.stl"/>
      </geometry>
      <material name="s3b_eh_4_material">
        <color rgba="0.231373 0.380392 0.705882 1.0"/>
      </material>
    </visual>
    <collision>
      <origin xyz="-5.96745e-16 0.012 -0.022" rpy="-4.90421e-16 -2.25815e-18 -3.14159"/>
      <geometry>
        <mesh filename="package://assets/s3b_eh.stl"/>
      </geometry>
    </collision>
    <!-- Part phs_m2x33_tap_k_4 -->
    <visual>
      <origin xyz="-5.96745e-16 0.012 -0.022" rpy="-4.90421e-16 -2.25815e-18 -3.14159"/>
      <geometry>
        <mesh filename="package://assets/phs_m2x33_tap_k.stl"/>
      </geometry>
      <material name="phs_m2x33_tap_k_4_material">
        <color rgba="0.498039 0.498039 0.498039 1.0"/>
      </material>
    </visual>
    <collision>
      <origin xyz="-5.96745e-16 0.012 -0.022" rpy="-4.90421e-16 -2.25815e-18 -3.14159"/>
      <geometry>
        <mesh filename="package://assets/phs_m2x33_tap_k.stl"/>
      </geometry>
    </collision>
    <!-- Part gear_8 -->
    <visual>
      <origin xyz="0.0231 0.024 -0.022" rpy="1.5708 1.5708 0"/>
      <geometry>
        <mesh filename="package://assets/gear.stl"/>
      </geometry>
      <material name="gear_8_material">
        <color rgba="0.615686 0.811765 0.929412 1.0"/>
      </material>
    </visual>
    <collision>
      <origin xyz="0.0231 0.024 -0.022" rpy="1.5708 1.5708 0"/>
      <geometry>
        <mesh filename="package://assets/gear.stl"/>
      </geometry>
    </collision>
    <!-- Part dc14_a01_insert_2_4 -->
    <visual>
      <origin xyz="-5.96745e-16 0.012 -0.022" rpy="-4.90421e-16 -2.25815e-18 -3.14159"/>
      <geometry>
        <mesh filename="package://assets/dc14_a01_insert_2.stl"/>
      </geometry>
      <material name="dc14_a01_insert_2_4_material">
        <color rgba="0.498039 0.498039 0.498039 1.0"/>
      </material>
    </visual>
    <collision>
      <origin xyz="-5.96745e-16 0.012 -0.022" rpy="-4.90421e-16 -2.25815e-18 -3.14159"/>
      <geometry>
        <mesh filename="package://assets/dc14_a01_insert_2.stl"/>
      </geometry>
    </collision>
    <!-- Part dc14_a01_insert_2_5_4 -->
    <visual>
      <origin xyz="-5.96745e-16 0.012 -0.022" rpy="-4.90421e-16 -2.25815e-18 -3.14159"/>
      <geometry>
        <mesh filename="package://assets/dc14_a01_insert_2_5.stl"/>
      </geometry>
      <material name="dc14_a01_insert_2_5_4_material">
        <color rgba="0.615686 0.811765 0.929412 1.0"/>
      </material>
    </visual>
    <collision>
      <origin xyz="-5.96745e-16 0.012 -0.022" rpy="-4.90421e-16 -2.25815e-18 -3.14159"/>
      <geometry>
        <mesh filename="package://assets/dc14_a01_insert_2_5.stl"/>
      </geometry>
    </collision>
    <!-- Part dc14_a01_insert_2_2_4 -->
    <visual>
      <origin xyz="-5.96745e-16 0.012 -0.022" rpy="-4.90421e-16 -2.25815e-18 -3.14159"/>
      <geometry>
        <mesh filename="package://assets/dc14_a01_insert_2_2.stl"/>
      </geometry>
      <material name="dc14_a01_insert_2_2_4_material">
        <color rgba="0.231373 0.380392 0.705882 1.0"/>
      </material>
    </visual>
    <collision>
      <origin xyz="-5.96745e-16 0.012 -0.022" rpy="-4.90421e-16 -2.25815e-18 -3.14159"/>
      <geometry>
        <mesh filename="package://assets/dc14_a01_insert_2_2.stl"/>
      </geometry>
    </collision>
    <!-- Part dc11_a01_idler_cap_ref_1_4 -->
    <visual>
      <origin xyz="-5.96745e-16 0.012 -0.022" rpy="-4.90421e-16 -2.25815e-18 -3.14159"/>
      <geometry>
        <mesh filename="package://assets/dc11_a01_idler_cap_ref_1.stl"/>
      </geometry>
      <material name="dc11_a01_idler_cap_ref_1_4_material">
        <color rgba="0.972549 0.529412 0.00392157 1.0"/>
      </material>
    </visual>
    <collision>
      <origin xyz="-5.96745e-16 0.012 -0.022" rpy="-4.90421e-16 -2.25815e-18 -3.14159"/>
      <geometry>
        <mesh filename="package://assets/dc11_a01_idler_cap_ref_1.stl"/>
      </geometry>
    </collision>
    <!-- Part dc11_a01_idler_ref_1_4 -->
    <visual>
      <origin xyz="-5.96745e-16 0.012 -0.022" rpy="-4.90421e-16 -2.25815e-18 -3.14159"/>
      <geometry>
        <mesh filename="package://assets/dc11_a01_idler_ref_1.stl"/>
      </geometry>
      <material name="dc11_a01_idler_ref_1_4_material">
        <color rgba="0.768627 0.886275 0.952941 1.0"/>
      </material>
    </visual>
    <collision>
      <origin xyz="-5.96745e-16 0.012 -0.022" rpy="-4.90421e-16 -2.25815e-18 -3.14159"/>
      <geometry>
        <mesh filename="package://assets/dc11_a01_idler_ref_1.stl"/>
      </geometry>
    </collision>
    <!-- Part dc11_a01_idler_screw_1_4 -->
    <visual>
      <origin xyz="-5.96745e-16 0.012 -0.022" rpy="-4.90421e-16 -2.25815e-18 -3.14159"/>
      <geometry>
        <mesh filename="package://assets/dc11_a01_idler_screw_1.stl"/>
      </geometry>
      <material name="dc11_a01_idler_screw_1_4_material">
        <color rgba="0.498039 0.498039 0.498039 1.0"/>
      </material>
    </visual>
    <collision>
      <origin xyz="-5.96745e-16 0.012 -0.022" rpy="-4.90421e-16 -2.25815e-18 -3.14159"/>
      <geometry>
        <mesh filename="package://assets/dc11_a01_idler_screw_1.stl"/>
      </geometry>
    </collision>
    <!-- Part dc14_a01_insert_2_1_4 -->
    <visual>
      <origin xyz="-5.96745e-16 0.012 -0.022" rpy="-4.90421e-16 -2.25815e-18 -3.14159"/>
      <geometry>
        <mesh filename="package://assets/dc14_a01_insert_2_1.stl"/>
      </geometry>
      <material name="dc14_a01_insert_2_1_4_material">
        <color rgba="0.615686 0.811765 0.929412 1.0"/>
      </material>
    </visual>
    <collision>
      <origin xyz="-5.96745e-16 0.012 -0.022" rpy="-4.90421e-16 -2.25815e-18 -3.14159"/>
      <geometry>
        <mesh filename="package://assets/dc14_a01_insert_2_1.stl"/>
      </geometry>
    </collision>
    <!-- Part dc14_a01_insert_2_4_4 -->
    <visual>
      <origin xyz="-5.96745e-16 0.012 -0.022" rpy="-4.90421e-16 -2.25815e-18 -3.14159"/>
      <geometry>
        <mesh filename="package://assets/dc14_a01_insert_2_4.stl"/>
      </geometry>
      <material name="dc14_a01_insert_2_4_4_material">
        <color rgba="0.498039 0.498039 0.498039 1.0"/>
      </material>
    </visual>
    <collision>
      <origin xyz="-5.96745e-16 0.012 -0.022" rpy="-4.90421e-16 -2.25815e-18 -3.14159"/>
      <geometry>
        <mesh filename="package://assets/dc14_a01_insert_2_4.stl"/>
      </geometry>
    </collision>
    <!-- Part phs_m2x33_tap_k_1_4 -->
    <visual>
      <origin xyz="-5.96745e-16 0.012 -0.022" rpy="-4.90421e-16 -2.25815e-18 -3.14159"/>
      <geometry>
        <mesh filename="package://assets/phs_m2x33_tap_k_1.stl"/>
      </geometry>
      <material name="phs_m2x33_tap_k_1_4_material">
        <color rgba="0.615686 0.811765 0.929412 1.0"/>
      </material>
    </visual>
    <collision>
      <origin xyz="-5.96745e-16 0.012 -0.022" rpy="-4.90421e-16 -2.25815e-18 -3.14159"/>
      <geometry>
        <mesh filename="package://assets/phs_m2x33_tap_k_1.stl"/>
      </geometry>
    </collision>
    <!-- Part dc11_a01_idler_cap_ref_4 -->
    <visual>
      <origin xyz="-5.96745e-16 0.012 -0.022" rpy="-4.90421e-16 -2.25815e-18 -3.14159"/>
      <geometry>
        <mesh filename="package://assets/dc11_a01_idler_cap_ref.stl"/>
      </geometry>
      <material name="dc11_a01_idler_cap_ref_4_material">
        <color rgba="0.647059 0.647059 0.647059 1.0"/>
      </material>
    </visual>
    <collision>
      <origin xyz="-5.96745e-16 0.012 -0.022" rpy="-4.90421e-16 -2.25815e-18 -3.14159"/>
      <geometry>
        <mesh filename="package://assets/dc11_a01_idler_cap_ref.stl"/>
      </geometry>
    </collision>
    <!-- Part dc14_a01_ref_4 -->
    <visual>
      <origin xyz="-5.96745e-16 0.012 -0.022" rpy="-4.90421e-16 -2.25815e-18 -3.14159"/>
      <geometry>
        <mesh filename="package://assets/dc14_a01_ref.stl"/>
      </geometry>
      <material name="dc14_a01_ref_4_material">
        <color rgba="0.647059 0.647059 0.647059 1.0"/>
      </material>
    </visual>
    <collision>
      <origin xyz="-5.96745e-16 0.012 -0.022" rpy="-4.90421e-16 -2.25815e-18 -3.14159"/>
      <geometry>
        <mesh filename="package://assets/dc14_a01_ref.stl"/>
      </geometry>
    </collision>
    <!-- Part dc11_a01_horn_ref_1_4 -->
    <visual>
      <origin xyz="-5.96745e-16 0.012 -0.022" rpy="-4.90421e-16 -2.25815e-18 -3.14159"/>
      <geometry>
        <mesh filename="package://assets/dc11_a01_horn_ref_1.stl"/>
      </geometry>
      <material name="dc11_a01_horn_ref_1_4_material">
        <color rgba="0.972549 0.529412 0.00392157 1.0"/>
      </material>
    </visual>
    <collision>
      <origin xyz="-5.96745e-16 0.012 -0.022" rpy="-4.90421e-16 -2.25815e-18 -3.14159"/>
      <geometry>
        <mesh filename="package://assets/dc11_a01_horn_ref_1.stl"/>
      </geometry>
    </collision>
    <!-- Part dc14_a01_insert_1_4 -->
    <visual>
      <origin xyz="-5.96745e-16 0.012 -0.022" rpy="-4.90421e-16 -2.25815e-18 -3.14159"/>
      <geometry>
        <mesh filename="package://assets/dc14_a01_insert_1.stl"/>
      </geometry>
      <material name="dc14_a01_insert_1_4_material">
        <color rgba="0.498039 0.498039 0.498039 1.0"/>
      </material>
    </visual>
    <collision>
      <origin xyz="-5.96745e-16 0.012 -0.022" rpy="-4.90421e-16 -2.25815e-18 -3.14159"/>
      <geometry>
        <mesh filename="package://assets/dc14_a01_insert_1.stl"/>
      </geometry>
    </collision>
    <!-- Part dc14_a01_insert_2_3_4 -->
    <visual>
      <origin xyz="-5.96745e-16 0.012 -0.022" rpy="-4.90421e-16 -2.25815e-18 -3.14159"/>
      <geometry>
        <mesh filename="package://assets/dc14_a01_insert_2_3.stl"/>
      </geometry>
      <material name="dc14_a01_insert_2_3_4_material">
        <color rgba="0.768627 0.886275 0.952941 1.0"/>
      </material>
    </visual>
    <collision>
      <origin xyz="-5.96745e-16 0.012 -0.022" rpy="-4.90421e-16 -2.25815e-18 -3.14159"/>
      <geometry>
        <mesh filename="package://assets/dc14_a01_insert_2_3.stl"/>
      </geometry>
    </collision>
    <!-- Part dc11_a01_idler_screw_4 -->
    <visual>
      <origin xyz="-5.96745e-16 0.012 -0.022" rpy="-4.90421e-16 -2.25815e-18 -3.14159"/>
      <geometry>
        <mesh filename="package://assets/dc11_a01_idler_screw.stl"/>
      </geometry>
      <material name="dc11_a01_idler_screw_4_material">
        <color rgba="0.231373 0.380392 0.705882 1.0"/>
      </material>
    </visual>
    <collision>
      <origin xyz="-5.96745e-16 0.012 -0.022" rpy="-4.90421e-16 -2.25815e-18 -3.14159"/>
      <geometry>
        <mesh filename="package://assets/dc11_a01_idler_screw.stl"/>
      </geometry>
    </collision>
    <!-- Part dc14_a01_insert_2_7_4 -->
    <visual>
      <origin xyz="-5.96745e-16 0.012 -0.022" rpy="-4.90421e-16 -2.25815e-18 -3.14159"/>
      <geometry>
        <mesh filename="package://assets/dc14_a01_insert_2_7.stl"/>
      </geometry>
      <material name="dc14_a01_insert_2_7_4_material">
        <color rgba="0.768627 0.886275 0.952941 1.0"/>
      </material>
    </visual>
    <collision>
      <origin xyz="-5.96745e-16 0.012 -0.022" rpy="-4.90421e-16 -2.25815e-18 -3.14159"/>
      <geometry>
        <mesh filename="package://assets/dc14_a01_insert_2_7.stl"/>
      </geometry>
    </collision>
    <!-- Part dc14_a01_insert_2_6_4 -->
    <visual>
      <origin xyz="-5.96745e-16 0.012 -0.022" rpy="-4.90421e-16 -2.25815e-18 -3.14159"/>
      <geometry>
        <mesh filename="package://assets/dc14_a01_insert_2_6.stl"/>
      </geometry>
      <material name="dc14_a01_insert_2_6_4_material">
        <color rgba="0.231373 0.380392 0.705882 1.0"/>
      </material>
    </visual>
    <collision>
      <origin xyz="-5.96745e-16 0.012 -0.022" rpy="-4.90421e-16 -2.25815e-18 -3.14159"/>
      <geometry>
        <mesh filename="package://assets/dc14_a01_insert_2_6.stl"/>
      </geometry>
    </collision>
    <!-- Part dc11_a01_horn_ref_4 -->
    <visual>
      <origin xyz="-5.96745e-16 0.012 -0.022" rpy="-4.90421e-16 -2.25815e-18 -3.14159"/>
      <geometry>
        <mesh filename="package://assets/dc11_a01_horn_ref.stl"/>
      </geometry>
      <material name="dc11_a01_horn_ref_4_material">
        <color rgba="0.231373 0.380392 0.705882 1.0"/>
      </material>
    </visual>
    <collision>
      <origin xyz="-5.96745e-16 0.012 -0.022" rpy="-4.90421e-16 -2.25815e-18 -3.14159"/>
      <geometry>
        <mesh filename="package://assets/dc11_a01_horn_ref.stl"/>
      </geometry>
    </collision>
    <!-- Part ehr_3_4 -->
    <visual>
      <origin xyz="-5.96745e-16 0.012 -0.022" rpy="-4.90421e-16 -2.25815e-18 -3.14159"/>
      <geometry>
        <mesh filename="package://assets/ehr_3.stl"/>
      </geometry>
      <material name="ehr_3_4_material">
        <color rgba="0.768627 0.886275 0.952941 1.0"/>
      </material>
    </visual>
    <collision>
      <origin xyz="-5.96745e-16 0.012 -0.022" rpy="-4.90421e-16 -2.25815e-18 -3.14159"/>
      <geometry>
        <mesh filename="package://assets/ehr_3.stl"/>
      </geometry>
    </collision>
    <!-- Part dc14_a01_insert_1_1_4 -->
    <visual>
      <origin xyz="-5.96745e-16 0.012 -0.022" rpy="-4.90421e-16 -2.25815e-18 -3.14159"/>
      <geometry>
        <mesh filename="package://assets/dc14_a01_insert_1_1.stl"/>
      </geometry>
      <material name="dc14_a01_insert_1_1_4_material">
        <color rgba="0.615686 0.811765 0.929412 1.0"/>
      </material>
    </visual>
    <collision>
      <origin xyz="-5.96745e-16 0.012 -0.022" rpy="-4.90421e-16 -2.25815e-18 -3.14159"/>
      <geometry>
        <mesh filename="package://assets/dc14_a01_insert_1_1.stl"/>
      </geometry>
    </collision>
  </link>
  <!-- Link slide_foot -->
  <link name="slide_foot">
    <inertial>
      <origin xyz="-0.00263783 -0.0242937 0.0864998" rpy="0 0 0"/>
      <mass value="0.0826415"/>
      <inertia ixx="0.000724845" ixy="-7.09083e-09" ixz="1.1506e-10" iyy="0.000693048" iyz="-4.2586e-11" izz="4.22232e-05"/>
    </inertial>
    <!-- Part mgn7c_1 -->
    <visual>
      <origin xyz="-0.0035 -0.0453 0.182" rpy="3.14159 -7.83881e-26 -1.48689e-25"/>
      <geometry>
        <mesh filename="package://assets/mgn7c_1.stl"/>
      </geometry>
      <material name="mgn7c_1_material">
        <color rgba="0.647059 0.647059 0.647059 1.0"/>
      </material>
    </visual>
    <collision>
      <origin xyz="-0.0035 -0.0453 0.182" rpy="3.14159 -7.83881e-26 -1.48689e-25"/>
      <geometry>
        <mesh filename="package://assets/mgn7c_1.stl"/>
      </geometry>
    </collision>
    <!-- Part footplate_hybrid -->
    <visual>
      <origin xyz="0.0225 -0.0243 0.0865" rpy="-1.5708 -5.3776e-16 1.5708"/>
      <geometry>
        <mesh filename="package://assets/footplate_hybrid.stl"/>
      </geometry>
      <material name="footplate_hybrid_material">
        <color rgba="0.623529 0.666667 0.701961 1.0"/>
      </material>
    </visual>
    <collision>
      <origin xyz="0.0225 -0.0243 0.0865" rpy="-1.5708 -5.3776e-16 1.5708"/>
      <geometry>
        <mesh filename="package://assets/footplate_hybrid.stl"/>
      </geometry>
    </collision>
    <!-- Part mgn7c_1_2 -->
    <visual>
      <origin xyz="-0.0035 -0.0033 0.182" rpy="-3.14159 -3.18497e-18 3.14159"/>
      <geometry>
        <mesh filename="package://assets/mgn7c_1.stl"/>
      </geometry>
      <material name="mgn7c_1_2_material">
        <color rgba="0.647059 0.647059 0.647059 1.0"/>
      </material>
    </visual>
    <collision>
      <origin xyz="-0.0035 -0.0033 0.182" rpy="-3.14159 -3.18497e-18 3.14159"/>
      <geometry>
        <mesh filename="package://assets/mgn7c_1.stl"/>
      </geometry>
    </collision>
    <!-- Part slide -->
    <visual>
      <origin xyz="0.0165 -0.0503 0.0865" rpy="-1.5708 1.5708 0"/>
      <geometry>
        <mesh filename="package://assets/slide.stl"/>
      </geometry>
      <material name="slide_material">
        <color rgba="0.647059 0.647059 0.647059 1.0"/>
      </material>
    </visual>
    <collision>
      <origin xyz="0.0165 -0.0503 0.0865" rpy="-1.5708 1.5708 0"/>
      <geometry>
        <mesh filename="package://assets/slide.stl"/>
      </geometry>
    </collision>
    <!-- Part footplate_hybrid_2 -->
    <visual>
      <origin xyz="-0.0295 -0.0243 0.0865" rpy="1.5708 -1.72601e-16 1.5708"/>
      <geometry>
        <mesh filename="package://assets/footplate_hybrid.stl"/>
      </geometry>
      <material name="footplate_hybrid_2_material">
        <color rgba="0.623529 0.666667 0.701961 1.0"/>
      </material>
    </visual>
    <collision>
      <origin xyz="-0.0295 -0.0243 0.0865" rpy="1.5708 -1.72601e-16 1.5708"/>
      <geometry>
        <mesh filename="package://assets/footplate_hybrid.stl"/>
      </geometry>
    </collision>
    <!-- Part mgn7c_1_3 -->
    <visual>
      <origin xyz="-0.0035 -0.0033 -0.009" rpy="-8.6613e-19 -2.71878e-30 -2.84527e-28"/>
      <geometry>
        <mesh filename="package://assets/mgn7c_1.stl"/>
      </geometry>
      <material name="mgn7c_1_3_material">
        <color rgba="0.647059 0.647059 0.647059 1.0"/>
      </material>
    </visual>
    <collision>
      <origin xyz="-0.0035 -0.0033 -0.009" rpy="-8.6613e-19 -2.71878e-30 -2.84527e-28"/>
      <geometry>
        <mesh filename="package://assets/mgn7c_1.stl"/>
      </geometry>
    </collision>
    <!-- Part mgn7c_1_4 -->
    <visual>
      <origin xyz="-0.0035 -0.0453 -0.009" rpy="1.4311e-16 -3.18497e-18 3.14159"/>
      <geometry>
        <mesh filename="package://assets/mgn7c_1.stl"/>
      </geometry>
      <material name="mgn7c_1_4_material">
        <color rgba="0.647059 0.647059 0.647059 1.0"/>
      </material>
    </visual>
    <collision>
      <origin xyz="-0.0035 -0.0453 -0.009" rpy="1.4311e-16 -3.18497e-18 3.14159"/>
      <geometry>
        <mesh filename="package://assets/mgn7c_1.stl"/>
      </geometry>
    </collision>
  </link>
  <!-- Joint from shell_motor_4 to slide_foot -->
  <joint name="12_leg4_pri" type="prismatic">
    <origin xyz="-0.0243 -0.0875 -0.0305" rpy="-1.5708 1.5708 0"/>
    <parent link="shell_motor_4"/>
    <child link="slide_foot"/>
    <axis xyz="0 0 1"/>
    <limit effort="10" velocity="10" lower="-0.017" upper="0.016"/>
  </joint>
  <!-- Joint from shell_motor_3 to shell_motor_4 -->
  <joint name="11_leg3_rot" type="revolute">
    <origin xyz="6.93889e-18 6.28837e-18 -0.0505" rpy="7.01267e-17 -1.0219e-16 -4.86796e-16"/>
    <parent link="shell_motor_3"/>
    <child link="shell_motor_4"/>
    <axis xyz="0 0 1"/>
    <limit effort="10" velocity="10" lower="-2.61799" upper="2.61799"/>
  </joint>
  <!-- Link slide_foot_2 -->
  <link name="slide_foot_2">
    <inertial>
      <origin xyz="-0.00263783 -0.0242937 0.0864998" rpy="0 0 0"/>
      <mass value="0.0826415"/>
      <inertia ixx="0.000724845" ixy="-7.09083e-09" ixz="1.1506e-10" iyy="0.000693048" iyz="-4.2586e-11" izz="4.22232e-05"/>
    </inertial>
    <!-- Part mgn7c_1_5 -->
    <visual>
      <origin xyz="-0.0035 -0.0453 0.182" rpy="-3.14159 1.30321e-15 4.56605e-16"/>
      <geometry>
        <mesh filename="package://assets/mgn7c_1.stl"/>
      </geometry>
      <material name="mgn7c_1_5_material">
        <color rgba="0.647059 0.647059 0.647059 1.0"/>
      </material>
    </visual>
    <collision>
      <origin xyz="-0.0035 -0.0453 0.182" rpy="-3.14159 1.30321e-15 4.56605e-16"/>
      <geometry>
        <mesh filename="package://assets/mgn7c_1.stl"/>
      </geometry>
    </collision>
    <!-- Part footplate_hybrid_3 -->
    <visual>
      <origin xyz="0.0225 -0.0243 0.0865" rpy="-1.5708 -7.21087e-16 1.5708"/>
      <geometry>
        <mesh filename="package://assets/footplate_hybrid.stl"/>
      </geometry>
      <material name="footplate_hybrid_3_material">
        <color rgba="0.623529 0.666667 0.701961 1.0"/>
      </material>
    </visual>
    <collision>
      <origin xyz="0.0225 -0.0243 0.0865" rpy="-1.5708 -7.21087e-16 1.5708"/>
      <geometry>
        <mesh filename="package://assets/footplate_hybrid.stl"/>
      </geometry>
    </collision>
    <!-- Part mgn7c_1_6 -->
    <visual>
      <origin xyz="-0.0035 -0.0033 0.182" rpy="3.14159 -2.41556e-16 -3.14159"/>
      <geometry>
        <mesh filename="package://assets/mgn7c_1.stl"/>
      </geometry>
      <material name="mgn7c_1_6_material">
        <color rgba="0.647059 0.647059 0.647059 1.0"/>
      </material>
    </visual>
    <collision>
      <origin xyz="-0.0035 -0.0033 0.182" rpy="3.14159 -2.41556e-16 -3.14159"/>
      <geometry>
        <mesh filename="package://assets/mgn7c_1.stl"/>
      </geometry>
    </collision>
    <!-- Part slide_2 -->
    <visual>
      <origin xyz="0.0165 -0.0503 0.0865" rpy="-1.5708 1.5708 0"/>
      <geometry>
        <mesh filename="package://assets/slide.stl"/>
      </geometry>
      <material name="slide_2_material">
        <color rgba="0.647059 0.647059 0.647059 1.0"/>
      </material>
    </visual>
    <collision>
      <origin xyz="0.0165 -0.0503 0.0865" rpy="-1.5708 1.5708 0"/>
      <geometry>
        <mesh filename="package://assets/slide.stl"/>
      </geometry>
    </collision>
    <!-- Part footplate_hybrid_4 -->
    <visual>
      <origin xyz="-0.0295 -0.0243 0.0865" rpy="1.5708 -5.20732e-16 1.5708"/>
      <geometry>
        <mesh filename="package://assets/footplate_hybrid.stl"/>
      </geometry>
      <material name="footplate_hybrid_4_material">
        <color rgba="0.623529 0.666667 0.701961 1.0"/>
      </material>
    </visual>
    <collision>
      <origin xyz="-0.0295 -0.0243 0.0865" rpy="1.5708 -5.20732e-16 1.5708"/>
      <geometry>
        <mesh filename="package://assets/footplate_hybrid.stl"/>
      </geometry>
    </collision>
    <!-- Part mgn7c_1_7 -->
    <visual>
      <origin xyz="-0.0035 -0.0033 -0.009" rpy="3.29053e-19 -2.65136e-30 -5.84877e-29"/>
      <geometry>
        <mesh filename="package://assets/mgn7c_1.stl"/>
      </geometry>
      <material name="mgn7c_1_7_material">
        <color rgba="0.647059 0.647059 0.647059 1.0"/>
      </material>
    </visual>
    <collision>
      <origin xyz="-0.0035 -0.0033 -0.009" rpy="3.29053e-19 -2.65136e-30 -5.84877e-29"/>
      <geometry>
        <mesh filename="package://assets/mgn7c_1.stl"/>
      </geometry>
    </collision>
    <!-- Part mgn7c_1_8 -->
    <visual>
      <origin xyz="-0.0035 -0.0453 -0.009" rpy="-6.37823e-16 -1.50443e-15 -3.14159"/>
      <geometry>
        <mesh filename="package://assets/mgn7c_1.stl"/>
      </geometry>
      <material name="mgn7c_1_8_material">
        <color rgba="0.647059 0.647059 0.647059 1.0"/>
      </material>
    </visual>
    <collision>
      <origin xyz="-0.0035 -0.0453 -0.009" rpy="-6.37823e-16 -1.50443e-15 -3.14159"/>
      <geometry>
        <mesh filename="package://assets/mgn7c_1.stl"/>
      </geometry>
    </collision>
  </link>
  <!-- Joint from shell_motor_3 to slide_foot_2 -->
  <joint name="10_leg3_pri" type="prismatic">
    <origin xyz="-0.0243 -0.0875 -0.028" rpy="-1.5708 1.5708 0"/>
    <parent link="shell_motor_3"/>
    <child link="slide_foot_2"/>
    <axis xyz="0 0 1"/>
    <limit effort="10" velocity="10" lower="-0.017" upper="0.016"/>
  </joint>
  <!-- Joint from shell_motor_2 to shell_motor_3 -->
  <joint name="9_leg2_rot" type="revolute">
    <origin xyz="7.63278e-17 -2.53161e-16 -0.054" rpy="-4.85178e-15 -6.31598e-16 4.87129e-16"/>
    <parent link="shell_motor_2"/>
    <child link="shell_motor_3"/>
    <axis xyz="0 0 1"/>
    <limit effort="10" velocity="10" lower="-2.61799" upper="2.61799"/>
  </joint>
  <!-- Link slide_foot_3 -->
  <link name="slide_foot_3">
    <inertial>
      <origin xyz="0.00436217 -0.0242937 0.0574998" rpy="0 0 0"/>
      <mass value="0.0826415"/>
      <inertia ixx="0.000724845" ixy="-7.09083e-09" ixz="1.1506e-10" iyy="0.000693048" iyz="-4.2586e-11" izz="4.22232e-05"/>
    </inertial>
    <!-- Part mgn7c_1_9 -->
    <visual>
      <origin xyz="0.0035 -0.0453 0.153" rpy="3.14159 6.93889e-17 -1.38778e-17"/>
      <geometry>
        <mesh filename="package://assets/mgn7c_1.stl"/>
      </geometry>
      <material name="mgn7c_1_9_material">
        <color rgba="0.647059 0.647059 0.647059 1.0"/>
      </material>
    </visual>
    <collision>
      <origin xyz="0.0035 -0.0453 0.153" rpy="3.14159 6.93889e-17 -1.38778e-17"/>
      <geometry>
        <mesh filename="package://assets/mgn7c_1.stl"/>
      </geometry>
    </collision>
    <!-- Part footplate_hybrid_5 -->
    <visual>
      <origin xyz="0.0295 -0.0243 0.0575" rpy="-1.5708 -3.51478e-16 1.5708"/>
      <geometry>
        <mesh filename="package://assets/footplate_hybrid.stl"/>
      </geometry>
      <material name="footplate_hybrid_5_material">
        <color rgba="0.623529 0.666667 0.701961 1.0"/>
      </material>
    </visual>
    <collision>
      <origin xyz="0.0295 -0.0243 0.0575" rpy="-1.5708 -3.51478e-16 1.5708"/>
      <geometry>
        <mesh filename="package://assets/footplate_hybrid.stl"/>
      </geometry>
    </collision>
    <!-- Part mgn7c_1_10 -->
    <visual>
      <origin xyz="0.0035 -0.0033 0.153" rpy="3.14159 -2.56739e-16 -3.14159"/>
      <geometry>
        <mesh filename="package://assets/mgn7c_1.stl"/>
      </geometry>
      <material name="mgn7c_1_10_material">
        <color rgba="0.647059 0.647059 0.647059 1.0"/>
      </material>
    </visual>
    <collision>
      <origin xyz="0.0035 -0.0033 0.153" rpy="3.14159 -2.56739e-16 -3.14159"/>
      <geometry>
        <mesh filename="package://assets/mgn7c_1.stl"/>
      </geometry>
    </collision>
    <!-- Part slide_3 -->
    <visual>
      <origin xyz="0.0235 -0.0503 0.0575" rpy="-1.5708 1.5708 0"/>
      <geometry>
        <mesh filename="package://assets/slide.stl"/>
      </geometry>
      <material name="slide_3_material">
        <color rgba="0.647059 0.647059 0.647059 1.0"/>
      </material>
    </visual>
    <collision>
      <origin xyz="0.0235 -0.0503 0.0575" rpy="-1.5708 1.5708 0"/>
      <geometry>
        <mesh filename="package://assets/slide.stl"/>
      </geometry>
    </collision>
    <!-- Part footplate_hybrid_6 -->
    <visual>
      <origin xyz="-0.0225 -0.0243 0.0575" rpy="1.5708 7.98614e-16 1.5708"/>
      <geometry>
        <mesh filename="package://assets/footplate_hybrid.stl"/>
      </geometry>
      <material name="footplate_hybrid_6_material">
        <color rgba="0.623529 0.666667 0.701961 1.0"/>
      </material>
    </visual>
    <collision>
      <origin xyz="-0.0225 -0.0243 0.0575" rpy="1.5708 7.98614e-16 1.5708"/>
      <geometry>
        <mesh filename="package://assets/footplate_hybrid.stl"/>
      </geometry>
    </collision>
    <!-- Part mgn7c_1_11 -->
    <visual>
      <origin xyz="0.0035 -0.0033 -0.038" rpy="-6.60434e-19 -4.11718e-30 -2.05778e-28"/>
      <geometry>
        <mesh filename="package://assets/mgn7c_1.stl"/>
      </geometry>
      <material name="mgn7c_1_11_material">
        <color rgba="0.647059 0.647059 0.647059 1.0"/>
      </material>
    </visual>
    <collision>
      <origin xyz="0.0035 -0.0033 -0.038" rpy="-6.60434e-19 -4.11718e-30 -2.05778e-28"/>
      <geometry>
        <mesh filename="package://assets/mgn7c_1.stl"/>
      </geometry>
    </collision>
    <!-- Part mgn7c_1_12 -->
    <visual>
      <origin xyz="0.0035 -0.0453 -0.038" rpy="-1.23498e-17 -2.56739e-16 -3.14159"/>
      <geometry>
        <mesh filename="package://assets/mgn7c_1.stl"/>
      </geometry>
      <material name="mgn7c_1_12_material">
        <color rgba="0.647059 0.647059 0.647059 1.0"/>
      </material>
    </visual>
    <collision>
      <origin xyz="0.0035 -0.0453 -0.038" rpy="-1.23498e-17 -2.56739e-16 -3.14159"/>
      <geometry>
        <mesh filename="package://assets/mgn7c_1.stl"/>
      </geometry>
    </collision>
  </link>
  <!-- Joint from shell_motor_2 to slide_foot_3 -->
  <joint name="8_leg2_pri" type="prismatic">
    <origin xyz="-0.0243 -0.0585 -0.022" rpy="-1.5708 1.5708 0"/>
    <parent link="shell_motor_2"/>
    <child link="slide_foot_3"/>
    <axis xyz="0 0 1"/>
    <limit effort="10" velocity="10" lower="-0.013" upper="0.0195"/>
  </joint>
  <!-- Joint from shell_motor to shell_motor_2 -->
  <joint name="7_leg_1_rot" type="revolute">
    <origin xyz="-0.0523992 -0.0402925 0.000828808" rpy="-1.5708 0.00732023 1.5708"/>
    <parent link="shell_motor"/>
    <child link="shell_motor_2"/>
    <axis xyz="0 0 1"/>
    <limit effort="10" velocity="10" lower="-2.61799" upper="2.61799"/>
  </joint>
  <!-- Link slide_foot_4 -->
  <link name="slide_foot_4">
    <inertial>
      <origin xyz="0.00263783 -0.0243063 0.0864998" rpy="0 0 0"/>
      <mass value="0.0826415"/>
      <inertia ixx="0.000724845" ixy="-7.09083e-09" ixz="-1.1506e-10" iyy="0.000693048" iyz="4.2586e-11" izz="4.22232e-05"/>
    </inertial>
    <!-- Part mgn7c_1_13 -->
    <visual>
      <origin xyz="0.0035 -0.0033 0.182" rpy="3.14159 -7.42462e-16 -3.14159"/>
      <geometry>
        <mesh filename="package://assets/mgn7c_1.stl"/>
      </geometry>
      <material name="mgn7c_1_13_material">
        <color rgba="0.647059 0.647059 0.647059 1.0"/>
      </material>
    </visual>
    <collision>
      <origin xyz="0.0035 -0.0033 0.182" rpy="3.14159 -7.42462e-16 -3.14159"/>
      <geometry>
        <mesh filename="package://assets/mgn7c_1.stl"/>
      </geometry>
    </collision>
    <!-- Part footplate_hybrid_7 -->
    <visual>
      <origin xyz="-0.0225 -0.0243 0.0865" rpy="-1.5708 -3.86639e-16 -1.5708"/>
      <geometry>
        <mesh filename="package://assets/footplate_hybrid.stl"/>
      </geometry>
      <material name="footplate_hybrid_7_material">
        <color rgba="0.623529 0.666667 0.701961 1.0"/>
      </material>
    </visual>
    <collision>
      <origin xyz="-0.0225 -0.0243 0.0865" rpy="-1.5708 -3.86639e-16 -1.5708"/>
      <geometry>
        <mesh filename="package://assets/footplate_hybrid.stl"/>
      </geometry>
    </collision>
    <!-- Part mgn7c_1_14 -->
    <visual>
      <origin xyz="0.0035 -0.0453 0.182" rpy="-3.14159 -2.38027e-30 -2.75797e-28"/>
      <geometry>
        <mesh filename="package://assets/mgn7c_1.stl"/>
      </geometry>
      <material name="mgn7c_1_14_material">
        <color rgba="0.647059 0.647059 0.647059 1.0"/>
      </material>
    </visual>
    <collision>
      <origin xyz="0.0035 -0.0453 0.182" rpy="-3.14159 -2.38027e-30 -2.75797e-28"/>
      <geometry>
        <mesh filename="package://assets/mgn7c_1.stl"/>
      </geometry>
    </collision>
    <!-- Part slide_4 -->
    <visual>
      <origin xyz="-0.0165 0.0017 0.0865" rpy="1.5708 1.5708 0"/>
      <geometry>
        <mesh filename="package://assets/slide.stl"/>
      </geometry>
      <material name="slide_4_material">
        <color rgba="0.647059 0.647059 0.647059 1.0"/>
      </material>
    </visual>
    <collision>
      <origin xyz="-0.0165 0.0017 0.0865" rpy="1.5708 1.5708 0"/>
      <geometry>
        <mesh filename="package://assets/slide.stl"/>
      </geometry>
    </collision>
    <!-- Part footplate_hybrid_8 -->
    <visual>
      <origin xyz="0.0295 -0.0243 0.0865" rpy="1.5708 7.86002e-16 -1.5708"/>
      <geometry>
        <mesh filename="package://assets/footplate_hybrid.stl"/>
      </geometry>
      <material name="footplate_hybrid_8_material">
        <color rgba="0.623529 0.666667 0.701961 1.0"/>
      </material>
    </visual>
    <collision>
      <origin xyz="0.0295 -0.0243 0.0865" rpy="1.5708 7.86002e-16 -1.5708"/>
      <geometry>
        <mesh filename="package://assets/footplate_hybrid.stl"/>
      </geometry>
    </collision>
    <!-- Part mgn7c_1_15 -->
    <visual>
      <origin xyz="0.0035 -0.0453 -0.009" rpy="-1.73661e-16 1.6161e-16 -3.14159"/>
      <geometry>
        <mesh filename="package://assets/mgn7c_1.stl"/>
      </geometry>
      <material name="mgn7c_1_15_material">
        <color rgba="0.647059 0.647059 0.647059 1.0"/>
      </material>
    </visual>
    <collision>
      <origin xyz="0.0035 -0.0453 -0.009" rpy="-1.73661e-16 1.6161e-16 -3.14159"/>
      <geometry>
        <mesh filename="package://assets/mgn7c_1.stl"/>
      </geometry>
    </collision>
    <!-- Part mgn7c_1_16 -->
    <visual>
      <origin xyz="0.0035 -0.0033 -0.009" rpy="-6.78894e-19 -8.00017e-31 -2.74031e-28"/>
      <geometry>
        <mesh filename="package://assets/mgn7c_1.stl"/>
      </geometry>
      <material name="mgn7c_1_16_material">
        <color rgba="0.647059 0.647059 0.647059 1.0"/>
      </material>
    </visual>
    <collision>
      <origin xyz="0.0035 -0.0033 -0.009" rpy="-6.78894e-19 -8.00017e-31 -2.74031e-28"/>
      <geometry>
        <mesh filename="package://assets/mgn7c_1.stl"/>
      </geometry>
    </collision>
  </link>
  <!-- Joint from shell_motor to slide_foot_4 -->
  <joint name="6_leg1_pri" type="prismatic">
    <origin xyz="-0.0763992 -0.0153526 0.0881486" rpy="-3.13427 1.34304e-14 -3.14159"/>
    <parent link="shell_motor"/>
    <child link="slide_foot_4"/>
    <axis xyz="0 0 1"/>
    <limit effort="10" velocity="10" lower="-0.017" upper="0.016"/>
  </joint>
</robot>
